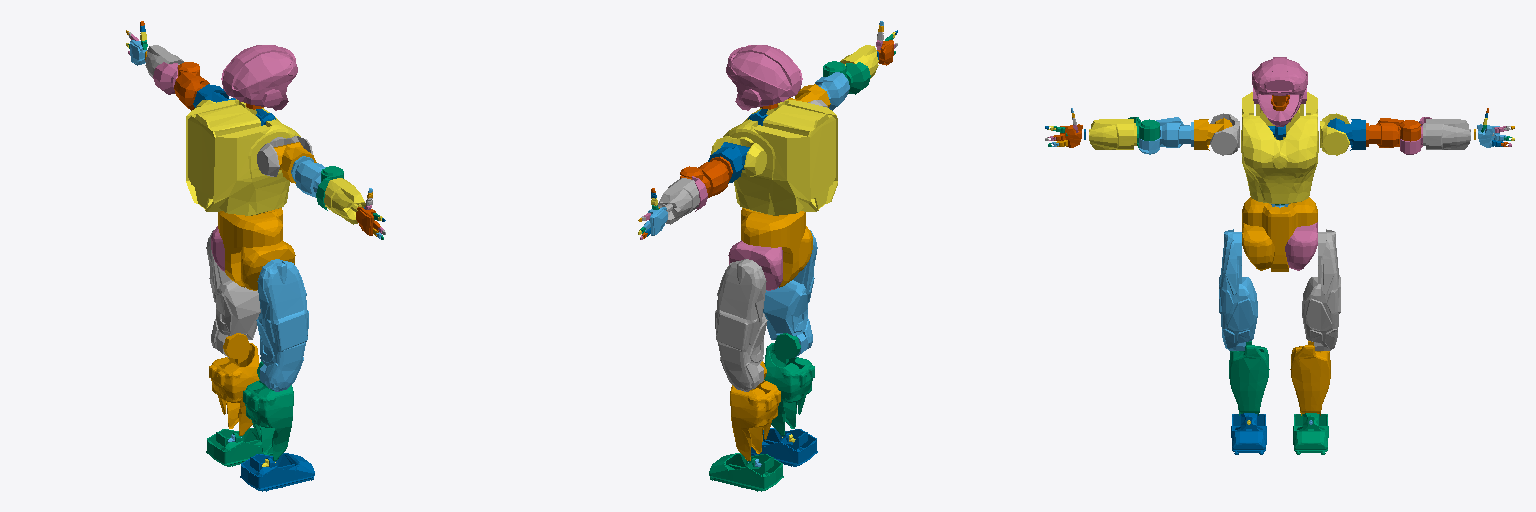
--- Render facts (derived) ---
3 views of the same robot in one strip: view 1: azimuth 30°, elevation 25°; view 2: azimuth 150°, elevation 25°; view 3: azimuth 270°, elevation 25° (orthographic).
Robot: valkyrie — 84 links, 83 joints (32 revolute, 51 fixed); root link pelvis; default pose: all joints at 0.
Links seen in each view (by area): view 1: torso, rightHipPitchLink, upperNeckPitchLink, leftKneePitchLink, leftHipPitchLink, rightKneePitchLink, pelvis, rightFoot, leftFoot, rightHipRollLink, rightForearmLink, leftShoulderYawLink (+5 smaller); view 2: torso, leftHipPitchLink, upperNeckPitchLink, rightKneePitchLink, rightHipPitchLink, leftKneePitchLink, pelvis, leftFoot, rightFoot, leftHipRollLink, leftForearmLink, leftShoulderYawLink (+5 smaller); view 3: torso, rightHipPitchLink, leftHipPitchLink, upperNeckPitchLink, pelvis, rightKneePitchLink, leftKneePitchLink, leftForearmLink, rightForearmLink, rightFoot, leftFoot, leftShoulderYawLink (+7 smaller).
Boxes of the visible links, left/top/right/bottom form: torso: left=186, top=99, right=300, bottom=215; rightHipPitchLink: left=256, top=259, right=308, bottom=391; upperNeckPitchLink: left=221, top=45, right=297, bottom=110; leftKneePitchLink: left=209, top=333, right=259, bottom=435; leftHipPitchLink: left=206, top=230, right=260, bottom=357; rightKneePitchLink: left=243, top=361, right=293, bottom=460; pelvis: left=218, top=208, right=282, bottom=287; rightFoot: left=240, top=453, right=314, bottom=491; leftFoot: left=206, top=428, right=272, bottom=466; rightHipRollLink: left=241, top=240, right=295, bottom=290; rightForearmLink: left=324, top=178, right=365, bottom=224; leftShoulderYawLink: left=174, top=62, right=209, bottom=110; torso: left=723, top=99, right=837, bottom=215; leftHipPitchLink: left=715, top=259, right=767, bottom=391; upperNeckPitchLink: left=726, top=45, right=802, bottom=110; rightKneePitchLink: left=764, top=333, right=814, bottom=435; rightHipPitchLink: left=763, top=230, right=817, bottom=357; leftKneePitchLink: left=730, top=361, right=780, bottom=460; pelvis: left=741, top=208, right=805, bottom=287; leftFoot: left=709, top=453, right=783, bottom=491; rightFoot: left=751, top=428, right=817, bottom=466; leftHipRollLink: left=728, top=240, right=782, bottom=290; leftForearmLink: left=658, top=178, right=699, bottom=224; leftShoulderYawLink: left=680, top=156, right=732, bottom=197; torso: left=1241, top=92, right=1318, bottom=203; rightHipPitchLink: left=1219, top=229, right=1257, bottom=350; leftHipPitchLink: left=1302, top=229, right=1340, bottom=350; upperNeckPitchLink: left=1252, top=57, right=1307, bottom=126; pelvis: left=1242, top=197, right=1317, bottom=271; rightKneePitchLink: left=1229, top=341, right=1269, bottom=415; leftKneePitchLink: left=1290, top=341, right=1330, bottom=415; leftForearmLink: left=1423, top=119, right=1470, bottom=149; rightForearmLink: left=1089, top=119, right=1136, bottom=149; rightFoot: left=1231, top=413, right=1266, bottom=454; leftFoot: left=1293, top=413, right=1328, bottom=454; leftShoulderYawLink: left=1366, top=118, right=1420, bottom=147.
Bounding box of the posed robot: 0.4375 × 2.09 × 1.88 m (x, y, z).
60 mesh visuals loaded from 58 distinct referenced files (58 Collada DAE).

robot.urdf — valkyrie:
<?xml version="1.0" ?>
<!-- =================================================================================== -->
<!-- |    This document was autogenerated by xacro from valkyrie_sim.xacro             | -->
<!-- |    EDITING THIS FILE BY HAND IS NOT RECOMMENDED                                 | -->
<!-- =================================================================================== -->
<robot name="valkyrie" xmlns:xacro="http://ros.org/wiki/xacro">
  <!--Yaw-->
  <!--pitch-->
  <!--roll-->
  <!--pitch-->
  <!--roll-->
  <!--Yaw-->
  <!--pitch-->
  <!--roll-->
  <!--pitch-->
  <!--roll-->
  <!--Yaw-->
  <!--pitch-->
  <!--roll-->
  <!--pitch-->
  <!--roll-->
  <!--Yaw-->
  <!--pitch-->
  <!--roll-->
  <!--pitch-->
  <!--roll-->
  <gazebo>
    <plugin filename="libval_gazebo.so" name="SharedMemorySimInterfacePlugin">
      <robotNamespace>/val</robotNamespace>
    </plugin>
  </gazebo>
  <link name="pelvis">
    <inertial>
      <mass value="8.22"/>
      <origin rpy="0 0 0" xyz="-0.00532 -0.003512 -0.0036"/>
      <inertia ixx="0.11866378" ixy="-0.000143482" ixz="0.003271293" iyy="0.097963425" iyz="0.002159545" izz="0.083854638"/>
    </inertial>
    <visual>
      <geometry>
        <mesh filename="package://model/meshes/pelvis/pelvis.dae"/>
      </geometry>
      <origin rpy="0.0 0.0 0.0" xyz="0.0 0.0 0.0"/>
    </visual>
    <collision>
      <geometry>
        <mesh filename="package://model/meshes/pelvis/pelvis.dae"/>
      </geometry>
      <origin rpy="0 0 0" xyz="0 0 0"/>
    </collision>
  </link>
  <link name="torsoYawLink">
    <inertial>
      <mass value="0.5"/>
      <origin rpy="0 0 0" xyz="0.000000 0.000000 -0.010000"/>
      <inertia ixx="0.000608427" ixy="-1.172e-06" ixz="1.647e-06" iyy="0.000620328" iyz="-2.33e-07" izz="0.001078108"/>
    </inertial>
    <visual>
      <geometry>
        <mesh filename="package://model/meshes/torso/torsoyaw.dae"/>
      </geometry>
      <origin rpy="0.0 0.0 0.0" xyz="0.0 0.0 0.0"/>
    </visual>
    <collision>
      <geometry>
        <mesh filename="package://model/meshes/torso/torsoyaw.dae"/>
      </geometry>
      <origin rpy="0 0 0" xyz="0 0 0"/>
    </collision>
  </link>
  <link name="torsoPitchLink">
    <inertial>
      <mass value="0.1"/>
      <origin rpy="0 0 0" xyz="0.000000 0.000000  0.005000"/>
      <inertia ixx="3.032e-05" ixy="0.0" ixz="-1.145e-06" iyy="2.1274e-05" iyz="0.0" izz="2.8285e-05"/>
    </inertial>
    <visual>
      <geometry>
        <mesh filename="package://model/meshes/torso/torsopitch.dae"/>
      </geometry>
      <origin rpy="0.0 0.0 0.0" xyz="0.0 0.0 0.0"/>
    </visual>
    <collision>
      <geometry>
        <mesh filename="package://model/meshes/torso/torsopitch.dae"/>
      </geometry>
      <origin rpy="0 0 0" xyz="0 0 0"/>
    </collision>
  </link>
  <link name="torso">
    <inertial>
      <mass value="39.47"/>
      <origin rpy="0 0 0" xyz="-0.095548 -0.003337 0.243098"/>
      <inertia ixx="0.87326933" ixy="9.9563e-05" ixz="0.061345211" iyy="1.0108485" iyz="0.00181849" izz="0.77839801"/>
    </inertial>
    <visual>
      <geometry>
        <mesh filename="package://model/meshes/torso/torso.dae"/>
      </geometry>
      <origin rpy="0.0 0.0 0.0" xyz="0.0 0.0 0.0"/>
    </visual>
    <collision>
      <geometry>
        <mesh filename="package://model/meshes/torso/torso.dae"/>
      </geometry>
      <origin rpy="0 0 0" xyz="0 0 0"/>
    </collision>
  </link>
  <joint name="torsoYaw" type="revolute">
    <origin rpy="0.0 0.0 0.0" xyz="0.0 0.0 0.0"/>
    <axis xyz="0 0 1"/>
    <parent link="pelvis"/>
    <child link="torsoYawLink"/>
    <limit effort="190" lower="-1.329" upper="1.181" velocity="5.89"/>
    <controller_gains Kd="0.0" Ki="0.0" Kp="0.0"/>
    <dynamics damping="0.1" friction="0.0"/>
  </joint>
  <gazebo reference="torsoYaw">
    <provideFeedback>1</provideFeedback>
    <implicitSpringDamper>1</implicitSpringDamper>
  </gazebo>
  <joint name="torsoPitch" type="revolute">
    <origin rpy="0.0 0.0 0.0" xyz="0.04191 0.0 0.0"/>
    <axis xyz="0 1 0"/>
    <parent link="torsoYawLink"/>
    <child link="torsoPitchLink"/>
    <limit effort="150" lower="-0.13" upper="0.666" velocity="9"/>
    <controller_gains Kd="0.0" Ki="0.0" Kp="0.0"/>
    <dynamics damping="0.1" friction="0.0"/>
  </joint>
  <gazebo reference="torsoPitch">
    <provideFeedback>1</provideFeedback>
    <implicitSpringDamper>1</implicitSpringDamper>
  </gazebo>
  <joint name="torsoRoll" type="revolute">
    <origin rpy="0.0 0.0 0.0" xyz="0.0 0.0 0.0203"/>
    <axis xyz="1 0 0"/>
    <parent link="torsoPitchLink"/>
    <child link="torso"/>
    <limit effort="150" lower="-0.23" upper="0.255" velocity="9"/>
    <controller_gains Kd="0.0" Ki="0.0" Kp="0.0"/>
    <dynamics damping="0.1" friction="0.0"/>
  </joint>
  <gazebo reference="torsoRoll">
    <provideFeedback>1</provideFeedback>
    <implicitSpringDamper>1</implicitSpringDamper>
  </gazebo>
  <link name="lowerNeckPitchLink">
    <inertial>
      <mass value="1.05"/>
      <origin rpy="0 0 0" xyz="-0.020000 0.000000  0.040000"/>
      <inertia ixx="0.001470716" ixy="-0.000126021" ixz="0.000632521" iyy="0.001851919" iyz="0.000243012" izz="0.000832117"/>
    </inertial>
    <visual>
      <geometry>
        <mesh filename="package://model/meshes/head/neckj1.dae"/>
      </geometry>
      <origin rpy="0.0 0.0 0.0" xyz="0.0 0.0 0.0"/>
    </visual>
    <collision>
      <geometry>
        <mesh filename="package://model/meshes/head/neckj1.dae"/>
      </geometry>
      <origin rpy="0 0 0" xyz="0 0 0"/>
    </collision>
  </link>
  <link name="neckYawLink">
    <inertial>
      <mass value="1.4"/>
      <origin rpy="0 0 0" xyz="-0.030000  -0.010000 0.150000"/>
      <inertia ixx="0.001997698" ixy="-0.000180062" ixz="0.000723677" iyy="0.002919928" iyz="0.000246467" izz="0.002119751"/>
    </inertial>
    <visual>
      <geometry>
        <mesh filename="package://model/meshes/head/neckj2.dae"/>
      </geometry>
      <origin rpy="0.0 0.0 0.0" xyz="0.0 0.0 0.0"/>
    </visual>
    <collision>
      <geometry>
        <mesh filename="package://model/meshes/head/neckj2.dae"/>
      </geometry>
      <origin rpy="0 0 0" xyz="0 0 0"/>
    </collision>
  </link>
  <link name="upperNeckPitchLink">
    <inertial>
      <mass value="3.89"/>
      <origin rpy="0 0 0" xyz="0.100912 0.005783 0.034787"/>
      <inertia ixx="0.039847525" ixy="-0.000470418" ixz="-0.002829842" iyy="0.041418564" iyz="-0.000782564" izz="0.036841236"/>
    </inertial>
    <visual>
      <geometry>
        <mesh filename="package://model/meshes/head/head_multisense_no_visor.dae"/>
      </geometry>
      <origin rpy="0.0 0.0 0.0" xyz="0.0 0.0 0.0"/>
    </visual>
    <collision>
      <geometry>
        <mesh filename="package://model/meshes/head/head_multisense_no_visor.dae"/>
      </geometry>
      <origin rpy="0 0 0" xyz="0 0 0"/>
    </collision>
  </link>
  <joint name="lowerNeckPitch" type="revolute">
    <origin rpy="0.0 0.0 0.0" xyz="0.0203518 0.0 0.33845"/>
    <axis xyz="0 1 0"/>
    <parent link="torso"/>
    <child link="lowerNeckPitchLink"/>
    <limit effort="26" lower="0" upper="1.162" velocity="5"/>
    <controller_gains Kd="400" Ki="0.0" Kp="400"/>
    <dynamics damping="0.1" friction="0.0"/>
  </joint>
  <gazebo reference="lowerNeckPitch">
    <provideFeedback>1</provideFeedback>
    <implicitSpringDamper>1</implicitSpringDamper>
  </gazebo>
  <joint name="neckYaw" type="revolute">
    <origin rpy="0.0 0.0 0.0" xyz="-0.051924 0.0 0.0"/>
    <axis xyz="0 0 1"/>
    <parent link="lowerNeckPitchLink"/>
    <child link="neckYawLink"/>
    <limit effort="26" lower="-1.04719755" upper="1.04719755" velocity="5"/>
    <controller_gains Kd="400" Ki="0.0" Kp="400"/>
    <dynamics damping="0.1" friction="0.0"/>
  </joint>
  <gazebo reference="neckYaw">
    <provideFeedback>1</provideFeedback>
    <implicitSpringDamper>1</implicitSpringDamper>
  </gazebo>
  <joint name="upperNeckPitch" type="revolute">
    <origin rpy="0.0 0.0 0.0" xyz="-0.06 0 0.195997"/>
    <axis xyz="0 1 0"/>
    <parent link="neckYawLink"/>
    <child link="upperNeckPitchLink"/>
    <limit effort="26" lower="-0.872" upper="0.0" velocity="5"/>
    <controller_gains Kd="400" Ki="0.0" Kp="400"/>
    <dynamics damping="0.1" friction="0.0"/>
  </joint>
  <gazebo reference="upperNeckPitch">
    <provideFeedback>1</provideFeedback>
    <implicitSpringDamper>1</implicitSpringDamper>
  </gazebo>
  <link name="rightShoulderPitchLink">
    <inertial>
      <mass value="2.65"/>
      <origin rpy="0 0 0" xyz="0.012 -0.251 0.000000"/>
      <inertia ixx="0.013718167" ixy="0.0" ixz="0.0" iyy="0.010502833" iyz="0.0" izz="0.014806433"/>
    </inertial>
    <visual>
      <geometry>
        <mesh filename="package://model/meshes/arms/aj1_right.dae"/>
      </geometry>
      <origin rpy="0.0 0.0 0.0" xyz="0.0 0.0 0.0"/>
    </visual>
    <collision>
      <geometry>
        <mesh filename="package://model/meshes/arms/aj1_right.dae"/>
      </geometry>
      <origin rpy="0 0 0" xyz="0 0 0"/>
    </collision>
  </link>
  <link name="rightShoulderRollLink">
    <inertial>
      <mass value="3.97"/>
      <origin rpy="0 0 0" xyz="0.008513 -0.02068 -0.001088"/>
      <inertia ixx="0.014598842" ixy="-0.00066764" ixz="3.629e-05" iyy="0.006452136" iyz="8.283e-05" izz="0.016848319"/>
    </inertial>
    <visual>
      <geometry>
        <mesh filename="package://model/meshes/arms/aj2_right.dae"/>
      </geometry>
      <origin rpy="0.0 0.0 0.0" xyz="0.0 0.0 0.0"/>
    </visual>
    <collision>
      <geometry>
        <mesh filename="package://model/meshes/arms/aj2_right.dae"/>
      </geometry>
      <origin rpy="0 0 0" xyz="0 0 0"/>
    </collision>
  </link>
  <link name="rightShoulderYawLink">
    <inertial>
      <mass value="3.085"/>
      <origin rpy="0 0 0" xyz="-0.004304 -0.209832 -0.007295"/>
      <inertia ixx="0.039355177" ixy="0.007827077" ixz="0.000753947" iyy="0.004905765" iyz="-0.002723873" izz="0.041879481"/>
    </inertial>
    <visual>
      <geometry>
        <mesh filename="package://model/meshes/arms/aj3_right.dae"/>
      </geometry>
      <origin rpy="0.0 0.0 0.0" xyz="0.0 0.0 0.0"/>
    </visual>
    <collision>
      <geometry>
        <mesh filename="package://model/meshes/arms/aj3_right.dae"/>
      </geometry>
      <origin rpy="0 0 0" xyz="0 0 0"/>
    </collision>
  </link>
  <link name="rightElbowPitchLink">
    <inertial>
      <mass value="1.83"/>
      <origin rpy="0 0 0" xyz="-0.020344 -0.014722 -0.0223"/>
      <inertia ixx="0.003314516" ixy="-0.000535099" ixz="-0.000728077" iyy="0.003505669" iyz="-0.000423865" izz="0.003011283"/>
    </inertial>
    <visual>
      <geometry>
        <mesh filename="package://model/meshes/arms/aj4_right.dae"/>
      </geometry>
      <origin rpy="0.0 0.0 0.0" xyz="0.0 0.0 0.0"/>
    </visual>
    <collision>
      <geometry>
        <mesh filename="package://model/meshes/arms/aj4_right.dae"/>
      </geometry>
      <origin rpy="0 0 0" xyz="0 0 0"/>
    </collision>
  </link>
  <joint name="rightShoulderPitch" type="revolute">
    <origin rpy="0.0 0.0 0.0" xyz="-0.0316 0.0 0.2984"/>
    <axis xyz="0 1 0"/>
    <parent link="torso"/>
    <child link="rightShoulderPitchLink"/>
    <limit effort="190" lower="-2.85" upper="2.0" velocity="5.89"/>
    <controller_gains Kd="0.0" Ki="0.0" Kp="0.0"/>
    <dynamics damping="0.1" friction="0.0"/>
  </joint>
  <gazebo reference="rightShoulderPitch">
    <provideFeedback>1</provideFeedback>
    <implicitSpringDamper>1</implicitSpringDamper>
  </gazebo>
  <joint name="rightShoulderRoll" type="revolute">
    <origin rpy="0.0 0.0 0.0" xyz="0.0 -0.2499 0.0"/>
    <axis xyz="1 0 0"/>
    <parent link="rightShoulderPitchLink"/>
    <child link="rightShoulderRollLink"/>
    <limit effort="190" lower="-1.266" upper="1.519" velocity="5.89"/>
    <controller_gains Kd="0.0" Ki="0.0" Kp="0.0"/>
    <dynamics damping="0.1" friction="0.0"/>
  </joint>
  <gazebo reference="rightShoulderRoll">
    <provideFeedback>1</provideFeedback>
    <implicitSpringDamper>1</implicitSpringDamper>
  </gazebo>
  <joint name="rightShoulderYaw" type="revolute">
    <origin rpy="0.0 0.0 0.0" xyz="0.0 0.0 0.0"/>
    <axis xyz="0 1 0"/>
    <parent link="rightShoulderRollLink"/>
    <child link="rightShoulderYawLink"/>
    <limit effort="65" lower="-3.1" upper="2.18" velocity="11.5"/>
    <controller_gains Kd="0.0" Ki="0.0" Kp="0.0"/>
    <dynamics damping="0.1" friction="0.0"/>
  </joint>
  <gazebo reference="rightShoulderYaw">
    <provideFeedback>1</provideFeedback>
    <implicitSpringDamper>1</implicitSpringDamper>
  </gazebo>
  <joint name="rightElbowPitch" type="revolute">
    <origin rpy="0.0 0.0 0.0" xyz="0.0254 -0.33 0.0"/>
    <axis xyz="0 0 1"/>
    <parent link="rightShoulderYawLink"/>
    <child link="rightElbowPitchLink"/>
    <limit effort="65" lower="-0.12" upper="2.174" velocity="11.5"/>
    <controller_gains Kd="0.0" Ki="0.0" Kp="0.0"/>
    <dynamics damping="0.1" friction="0.0"/>
  </joint>
  <gazebo reference="rightElbowPitch">
    <provideFeedback>1</provideFeedback>
    <implicitSpringDamper>1</implicitSpringDamper>
  </gazebo>
  <link name="rightForearmLink">
    <inertial>
      <mass value="2.476"/>
      <origin rpy="0 0 0" xyz="0.015000 -0.13 0.019564"/>
      <inertia ixx="0.01175543" ixy="-0.001300853" ixz="-0.000727141" iyy="0.005071567" iyz="-0.001695416" izz="0.011365657"/>
    </inertial>
    <visual>
      <geometry>
        <mesh filename="package://model/meshes/arms/aj5_right.dae"/>
      </geometry>
      <origin rpy="0.0 0.0 0.0" xyz="0.0 0.0 0.0"/>
    </visual>
    <collision>
      <geometry>
        <mesh filename="package://model/meshes/arms/aj5_right.dae"/>
      </geometry>
      <origin rpy="0 0 0" xyz="0 0 0"/>
    </collision>
  </link>
  <link name="rightWristRollLink">
    <inertial>
      <mass value="0.14"/>
      <origin rpy="0 0 0" xyz="0 -0.0 0"/>
      <inertia ixx="3.0251e-05" ixy="-1.25e-07" ixz="-3.6e-08" iyy="3.772e-05" iyz="0.0" izz="9.395e-06"/>
    </inertial>
    <visual>
      <geometry>
        <mesh filename="package://model/meshes/arms/aj6_right.dae"/>
      </geometry>
      <origin rpy="0.0 0.0 0.0" xyz="0.0 0.0 0.0"/>
    </visual>
    <collision>
      <geometry>
        <mesh filename="package://model/meshes/arms/aj6_right.dae"/>
      </geometry>
      <origin rpy="0 0 0" xyz="0 0 0"/>
    </collision>
  </link>
  <link name="rightPalm">
    <inertial>
      <mass value="0.712"/>
      <origin rpy="0 0 0" xyz="0.002954 -0.052034 -0.000236"/>
      <inertia ixx="0.000943493" ixy="3.4393e-05" ixz="-3.8828e-05" iyy="0.000711024" iyz="2.3429e-05" izz="0.000610199"/>
    </inertial>
    <visual>
      <geometry>
        <mesh filename="package://model/meshes/arms/palm_right.dae"/>
      </geometry>
      <origin rpy="0.0 0.0 0.0" xyz="0.0 0.0 0.0"/>
    </visual>
    <collision>
      <geometry>
        <mesh filename="package://model/meshes/arms/palm_right.dae"/>
      </geometry>
      <origin rpy="0 0 0" xyz="0 0 0"/>
    </collision>
  </link>
  <joint name="rightForearmYaw" type="revolute">
    <origin rpy="0.0 0.0 0.0" xyz="-0.0254 0 0"/>
    <axis xyz="0 1 0"/>
    <parent link="rightElbowPitchLink"/>
    <child link="rightForearmLink"/>
    <limit effort="26" lower="-2.019" upper="3.14" velocity="5"/>
    <controller_gains Kd="0" Ki="0.0" Kp="0.0"/>
    <dynamics damping="0.1" friction="0.0"/>
  </joint>
  <gazebo reference="rightForearmYaw">
    <provideFeedback>1</provideFeedback>
    <implicitSpringDamper>1</implicitSpringDamper>
  </gazebo>
  <joint name="rightWristRoll" type="revolute">
    <origin rpy="0.0 0.0 0.0" xyz="0.0 -0.2871 0.0"/>
    <axis xyz="1 0 0"/>
    <parent link="rightForearmLink"/>
    <child link="rightWristRollLink"/>
    <limit effort="14" lower="-0.625" upper="0.62" velocity="1"/>
    <controller_gains Kd="400" Ki="0.0" Kp="20000"/>
    <dynamics damping="0.1" friction="0.0"/>
  </joint>
  <gazebo reference="rightWristRoll">
    <provideFeedback>1</provideFeedback>
    <implicitSpringDamper>1</implicitSpringDamper>
  </gazebo>
  <joint name="rightWristPitch" type="revolute">
    <origin rpy="0.0 0.0 0.0" xyz="0.0 0.0 0.0"/>
    <axis xyz="0 0 1"/>
    <parent link="rightWristRollLink"/>
    <child link="rightPalm"/>
    <limit effort="14" lower="-0.49" upper="0.36" velocity="1"/>
    <controller_gains Kd="400" Ki="0.0" Kp="20000"/>
    <dynamics damping="0.1" friction="0.0"/>
  </joint>
  <gazebo reference="rightWristPitch">
    <provideFeedback>1</provideFeedback>
    <implicitSpringDamper>1</implicitSpringDamper>
  </gazebo>
  <link name="rightThumbRollLink">
    <inertial>
      <mass value="0.017"/>
      <origin rpy="0 0 0" xyz="0 -0.0 0.01"/>
      <inertia ixx="2.7778767e-06" ixy="5.6718533e-09" ixz="-9.5523207e-08" iyy="3.5462642e-06" iyz="3.663718e-08" izz="1.3553297e-06"/>
    </inertial>
    <visual>
      <geometry>
        <mesh filename="package://model/meshes/fingers/thumbj1_right.dae"/>
      </geometry>
      <origin rpy="0.0 0.0 0.0" xyz="0.0 0.0 0.0"/>
    </visual>
    <collision>
      <geometry>
        <mesh filename="package://model/meshes/fingers/thumbj1_right.dae"/>
      </geometry>
      <origin rpy="0 0 0" xyz="0 0 0"/>
    </collision>
  </link>
  <link name="rightThumbPitch1Link">
    <inertial>
      <mass value="0.02"/>
      <origin rpy="0 0 0" xyz="0.0 -0.005 0.02"/>
      <inertia ixx="4.239e-06" ixy="0.0" ixz="-0.0" iyy="4.582e-06" iyz="0.0" izz="1.47e-06"/>
    </inertial>
    <visual>
      <geometry>
        <mesh filename="package://model/meshes/fingers/thumbj2_right.dae"/>
      </geometry>
      <origin rpy="0.0 0.0 0.0" xyz="0.0 0.0 0.0"/>
    </visual>
    <collision>
      <geometry>
        <mesh filename="package://model/meshes/fingers/thumbj2_right.dae"/>
      </geometry>
      <origin rpy="0 0 0" xyz="0 0 0"/>
    </collision>
  </link>
  <link name="rightThumbPitch2Link">
    <inertial>
      <mass value="0.013"/>
      <origin rpy="0 0 0" xyz="0 -0.004 0.017"/>
      <inertia ixx="1.266e-06" ixy="0.0" ixz="-0.0" iyy="1.503e-06" iyz="-0.0" izz="6.99e-07"/>
    </inertial>
    <visual>
      <geometry>
        <mesh filename="package://model/meshes/fingers/thumbj3_right.dae"/>
      </geometry>
      <origin rpy="0.0 0.0 0.0" xyz="0.0 0.0 0.0"/>
    </visual>
    <collision>
      <geometry>
        <mesh filename="package://model/meshes/fingers/thumbj3_right.dae"/>
      </geometry>
      <origin rpy="0 0 0" xyz="0 0 0"/>
    </collision>
  </link>
  <link name="rightThumbPitch3Link">
    <inertial>
      <mass value="0.006"/>
      <origin rpy="0 0 0" xyz="0 -0.004 0.01"/>
      <inertia ixx="3.22e-07" ixy="0.0" ixz="0.0" iyy="4.06e-07" iyz="0.0" izz="2.1e-07"/>
    </inertial>
    <visual>
      <geometry>
        <mesh filename="package://model/meshes/fingers/thumbj4_right.dae"/>
      </geometry>
      <origin rpy="0.0 0.0 0.0" xyz="0.0 0.0 0.0"/>
    </visual>
    <collision>
      <geometry>
        <mesh filename="package://model/meshes/fingers/thumbj4_right.dae"/>
      </geometry>
      <origin rpy="0 0 0" xyz="0 0 0"/>
    </collision>
  </link>
  <joint name="rightThumbRoll" type="fixed">
    <origin rpy="0.3491 0.0 0.0" xyz="0.0049 -0.0351 0.0228"/>
    <axis xyz="0 0 1"/>
    <parent link="rightPalm"/>
    <child link="rightThumbRollLink"/>
  </joint>
  <gazebo reference="rightThumbRoll">
    <implicitSpringDamper>1</implicitSpringDamper>
  </gazebo>
  <joint name="rightThumbPitch1" type="fixed">
    <origin rpy="-0.3491 0.0 0.0" xyz="0.0 0.0 0.0229"/>
    <axis xyz="0 0 1"/>
    <parent link="rightThumbRollLink"/>
    <child link="rightThumbPitch1Link"/>
  </joint>
  <gazebo reference="rightThumbPitch1">
    <implicitSpringDamper>1</implicitSpringDamper>
  </gazebo>
  <joint name="rightThumbPitch2" type="fixed">
    <origin rpy="0.0 0.0 0.0" xyz="0.0 -0.0066 0.0375"/>
    <axis xyz="0 0 1"/>
    <parent link="rightThumbPitch1Link"/>
    <child link="rightThumbPitch2Link"/>
  </joint>
  <gazebo reference="rightThumbPitch2">
    <implicitSpringDamper>1</implicitSpringDamper>
  </gazebo>
  <joint name="rightThumbPitch3" type="fixed">
    <origin rpy="0.0 0.0 0.0" xyz="0.0 -0.0049 0.0275"/>
    <axis xyz="0 0 1"/>
    <parent link="rightThumbPitch2Link"/>
    <child link="rightThumbPitch3Link"/>
  </joint>
  <gazebo reference="rightThumbPitch3">
    <implicitSpringDamper>1</implicitSpringDamper>
  </gazebo>
  <link name="rightIndexFingerPitch1Link">
    <inertial>
      <mass value="0.02"/>
      <origin rpy="0 0 0" xyz="0 -0.02 0"/>
      <inertia ixx="4.232e-06" ixy="-6e-08" ixz="-8e-09" iyy="1.215e-06" iyz="-7e-09" izz="3.892e-06"/>
    </inertial>
    <visual>
      <geometry>
        <mesh filename="package://model/meshes/fingers/indexj1_right.dae"/>
      </geometry>
      <origin rpy="0.0 0.0 0.0" xyz="0.0 0.0 0.0"/>
    </visual>
    <collision>
      <geometry>
        <mesh filename="package://model/meshes/fingers/indexj1_right.dae"/>
      </geometry>
      <origin rpy="0 0 0" xyz="0 0 0"/>
    </collision>
  </link>
  <link name="rightIndexFingerPitch2Link">
    <inertial>
      <mass value="0.018"/>
      <origin rpy="0 0 0" xyz="0 -0.013 0"/>
      <inertia ixx="1.562e-06" ixy="-1.7e-08" ixz="-1.3e-08" iyy="7.22e-07" iyz="3.1e-08" izz="1.255e-06"/>
    </inertial>
    <visual>
      <geometry>
        <mesh filename="package://model/meshes/fingers/indexj2_right.dae"/>
      </geometry>
      <origin rpy="0.0 0.0 0.0" xyz="0.0 0.0 0.0"/>
    </visual>
    <collision>
      <geometry>
        <mesh filename="package://model/meshes/fingers/indexj2_right.dae"/>
      </geometry>
      <origin rpy="0 0 0" xyz="0 0 0"/>
    </collision>
  </link>
  <link name="rightIndexFingerPitch3Link">
    <inertial>
      <mass value="0.01"/>
      <origin rpy="0 0 0" xyz="0 -0.01 0"/>
      <inertia ixx="6.02e-07" ixy="-2.4e-08" ixz="0.0" iyy="2.09e-07" iyz="1.7e-08" izz="5.02e-07"/>
    </inertial>
    <visual>
      <geometry>
        <mesh filename="package://model/meshes/fingers/indexj3_right.dae"/>
      </geometry>
      <origin rpy="0.0 0.0 0.0" xyz="0.0 0.0 0.0"/>
    </visual>
    <collision>
      <geometry>
        <mesh filename="package://model/meshes/fingers/indexj3_right.dae"/>
      </geometry>
      <origin rpy="0 0 0" xyz="0 0 0"/>
    </collision>
  </link>
  <joint name="rightIndexFingerPitch1" type="fixed">
    <origin rpy="-0.1745 0.0 0.0" xyz="0.0022 -0.0976 0.0235"/>
    <axis xyz="0 0 1"/>
    <parent link="rightPalm"/>
    <child link="rightIndexFingerPitch1Link"/>
  </joint>
  <gazebo reference="rightIndexFingerPitch1">
    <implicitSpringDamper>1</implicitSpringDamper>
  </gazebo>
  <joint name="rightIndexFingerPitch2" type="fixed">
    <origin rpy="0.0 0.0 0.0" xyz="0.0 -0.0381 0.0"/>
    <axis xyz="0 0 1"/>
    <parent link="rightIndexFingerPitch1Link"/>
    <child link="rightIndexFingerPitch2Link"/>
  </joint>
  <gazebo reference="rightIndexFingerPitch2">
    <implicitSpringDamper>1</implicitSpringDamper>
  </gazebo>
  <joint name="rightIndexFingerPitch3" type="fixed">
    <origin rpy="0.0 0.0 0.0" xyz="0.0 -0.0229 0"/>
    <axis xyz="0 0 1"/>
    <parent link="rightIndexFingerPitch2Link"/>
    <child link="rightIndexFingerPitch3Link"/>
  </joint>
  <gazebo reference="rightIndexFingerPitch3">
    <implicitSpringDamper>1</implicitSpringDamper>
  </gazebo>
  <link name="rightMiddleFingerPitch1Link">
    <inertial>
      <mass value="0.02"/>
      <origin rpy="0 0 0" xyz="0 -0.02 0"/>
      <inertia ixx="5.148e-06" ixy="-4.2e-08" ixz="-1.1e-08" iyy="1.322e-06" iyz="-4e-09" izz="4.592e-06"/>
    </inertial>
    <visual>
      <geometry>
        <mesh filename="package://model/meshes/fingers/middlej1_right.dae"/>
      </geometry>
      <origin rpy="0.0 0.0 0.0" xyz="0.0 0.0 0.0"/>
    </visual>
    <collision>
      <geometry>
        <mesh filename="package://model/meshes/fingers/middlej1_right.dae"/>
      </geometry>
      <origin rpy="0 0 0" xyz="0 0 0"/>
    </collision>
  </link>
  <link name="rightMiddleFingerPitch2Link">
    <inertial>
      <mass value="0.011"/>
      <origin rpy="0 0 0" xyz="0 -0.013 0"/>
      <inertia ixx="1.97e-06" ixy="3.4e-08" ixz="-1.1e-08" iyy="5.54e-07" iyz="-7.8e-08" izz="2.272e-06"/>
    </inertial>
    <visual>
      <geometry>
        <mesh filename="package://model/meshes/fingers/middlej2_right.dae"/>
      </geometry>
      <origin rpy="0.0 0.0 0.0" xyz="0.0 0.0 0.0"/>
    </visual>
    <collision>
      <geometry>
        <mesh filename="package://model/meshes/fingers/middlej2_right.dae"/>
      </geometry>
      <origin rpy="0 0 0" xyz="0 0 0"/>
    </collision>
  </link>
  <link name="rightMiddleFingerPitch3Link">
    <inertial>
      <mass value="0.006"/>
      <origin rpy="0 0 0" xyz="0 -0.01 0"/>
      <inertia ixx="3.96e-07" ixy="-9e-09" ixz="-1e-09" iyy="1.6e-07" iyz="1.6e-08" izz="3.03e-07"/>
    </inertial>
    <visual>
      <geometry>
        <mesh filename="package://model/meshes/fingers/middlej3_right.dae"/>
      </geometry>
      <origin rpy="0.0 0.0 0.0" xyz="0.0 0.0 0.0"/>
    </visual>
    <collision>
      <geometry>
        <mesh filename="package://model/meshes/fingers/middlej3_right.dae"/>
      </geometry>
      <origin rpy="0 0 0" xyz="0 0 0"/>
    </collision>
  </link>
  <joint name="rightMiddleFingerPitch1" type="fixed">
    <origin rpy="0.1222 0.0 0.0" xyz="0.0022 -0.097 -0.0119"/>
    <axis xyz="0 0 1"/>
    <parent link="rightPalm"/>
    <child link="rightMiddleFingerPitch1Link"/>
  </joint>
  <gazebo reference="rightMiddleFingerPitch1">
    <implicitSpringDamper>1</implicitSpringDamper>
  </gazebo>
  <joint name="rightMiddleFingerPitch2" type="fixed">
    <origin rpy="0.0 0.0 0.0" xyz="0.0 -0.0381 0.0"/>
    <axis xyz="0 0 1"/>
    <parent link="rightMiddleFingerPitch1Link"/>
    <child link="rightMiddleFingerPitch2Link"/>
  </joint>
  <gazebo reference="rightMiddleFingerPitch2">
    <implicitSpringDamper>1</implicitSpringDamper>
  </gazebo>
  <joint name="rightMiddleFingerPitch3" type="fixed">
    <origin rpy="0.0 0.0 0.0" xyz="0.0 -0.0229 0.0"/>
    <axis xyz="0 0 1"/>
    <parent link="rightMiddleFingerPitch2Link"/>
    <child link="rightMiddleFingerPitch3Link"/>
  </joint>
  <gazebo reference="rightMiddleFingerPitch3">
    <implicitSpringDamper>1</implicitSpringDamper>
  </gazebo>
  <link name="rightPinkyPitch1Link">
    <inertial>
      <mass value="0.02"/>
      <origin rpy="0 0 0" xyz="0 -0.02 0"/>
      <inertia ixx="5.148e-06" ixy="-4.2e-08" ixz="-1.1e-08" iyy="1.322e-06" iyz="-4e-09" izz="4.592e-06"/>
    </inertial>
    <visual>
      <geometry>
        <mesh filename="package://model/meshes/fingers/pinkyj1_right.dae"/>
      </geometry>
      <origin rpy="0.0 0.0 0.0" xyz="0.0 0.0 0.0"/>
    </visual>
    <collision>
      <geometry>
        <mesh filename="package://model/meshes/fingers/pinkyj1_right.dae"/>
      </geometry>
      <origin rpy="0 0 0" xyz="0 0 0"/>
    </collision>
  </link>
  <link name="rightPinkyPitch2Link">
    <inertial>
      <mass value="0.011"/>
      <origin rpy="0 0 0" xyz="0 -0.013 0"/>
      <inertia ixx="1.97e-06" ixy="3.4e-08" ixz="-1.1e-08" iyy="5.54e-07" iyz="-7.8e-08" izz="2.272e-06"/>
    </inertial>
    <visual>
      <geometry>
        <mesh filename="package://model/meshes/fingers/pinkyj2_right.dae"/>
      </geometry>
      <origin rpy="0.0 0.0 0.0" xyz="0.0 0.0 0.0"/>
    </visual>
    <collision>
      <geometry>
        <mesh filename="package://model/meshes/fingers/pinkyj2_right.dae"/>
      </geometry>
      <origin rpy="0 0 0" xyz="0 0 0"/>
    </collision>
  </link>
  <link name="rightPinkyPitch3Link">
    <inertial>
      <mass value="0.006"/>
      <origin rpy="0 0 0" xyz="0 -0.01 0"/>
      <inertia ixx="3.96e-07" ixy="-9e-09" ixz="-1e-09" iyy="1.6e-07" iyz="1.6e-08" izz="3.03e-07"/>
    </inertial>
    <visual>
      <geometry>
        <mesh filename="package://model/meshes/fingers/pinkyj3_right.dae"/>
      </geometry>
      <origin rpy="0.0 0.0 0.0" xyz="0.0 0.0 0.0"/>
    </visual>
    <collision>
      <geometry>
        <mesh filename="package://model/meshes/fingers/pinkyj3_right.dae"/>
      </geometry>
      <origin rpy="0 0 0" xyz="0 0 0"/>
    </collision>
  </link>
  <joint name="rightPinkyPitch1" type="fixed">
    <origin rpy="0.1222 0.0 0.0" xyz="0.0022 -0.0838 -0.041"/>
    <axis xyz="0 0 1"/>
    <parent link="rightPalm"/>
    <child link="rightPinkyPitch1Link"/>
  </joint>
  <gazebo reference="rightPinkyPitch1">
    <implicitSpringDamper>1</implicitSpringDamper>
  </gazebo>
  <joint name="rightPinkyPitch2" type="fixed">
    <origin rpy="0.0 0.0 0.0" xyz="0.0 -0.0381 0.0"/>
    <axis xyz="0 0 1"/>
    <parent link="rightPinkyPitch1Link"/>
    <child link="rightPinkyPitch2Link"/>
  </joint>
  <gazebo reference="rightPinkyPitch2">
    <implicitSpringDamper>1</implicitSpringDamper>
  </gazebo>
  <joint name="rightPinkyPitch3" type="fixed">
    <origin rpy="0.0 0.0 0.0" xyz="0.0 -0.0229 0.0"/>
    <axis xyz="0 0 1"/>
    <parent link="rightPinkyPitch2Link"/>
    <child link="rightPinkyPitch3Link"/>
  </joint>
  <gazebo reference="rightPinkyPitch3">
    <implicitSpringDamper>1</implicitSpringDamper>
  </gazebo>
  <link name="leftShoulderPitchLink">
    <inertial>
      <mass value="2.65"/>
      <origin rpy="0 0 0" xyz="-0.012 0.251 0.000000"/>
      <inertia ixx="0.013718167" ixy="0.0" ixz="0.0" iyy="0.010502833" iyz="0.0" izz="0.014806433"/>
    </inertial>
    <visual>
      <geometry>
        <mesh filename="package://model/meshes/arms/aj1_left.dae"/>
      </geometry>
      <origin rpy="0.0 0.0 0.0" xyz="0.0 0.0 0.0"/>
    </visual>
    <collision>
      <geometry>
        <mesh filename="package://model/meshes/arms/aj1_left.dae"/>
      </geometry>
      <origin rpy="0 0 0" xyz="0 0 0"/>
    </collision>
  </link>
  <link name="leftShoulderRollLink">
    <inertial>
      <mass value="3.97"/>
      <origin rpy="0 0 0" xyz="-0.008513 0.02068 -0.001088"/>
      <inertia ixx="0.014598842" ixy="-0.00066764" ixz="-3.629e-05" iyy="0.006452136" iyz="-8.283e-05" izz="0.016848319"/>
    </inertial>
    <visual>
      <geometry>
        <mesh filename="package://model/meshes/arms/aj2_left.dae"/>
      </geometry>
      <origin rpy="0.0 0.0 0.0" xyz="0.0 0.0 0.0"/>
    </visual>
    <collision>
      <geometry>
        <mesh filename="package://model/meshes/arms/aj2_left.dae"/>
      </geometry>
      <origin rpy="0 0 0" xyz="0 0 0"/>
    </collision>
  </link>
  <link name="leftShoulderYawLink">
    <inertial>
      <mass value="3.085"/>
      <origin rpy="0 0 0" xyz="-0.004304 0.209832 0.007295"/>
      <inertia ixx="0.039355177" ixy="-0.007827077" ixz="-0.000753947" iyy="0.004905765" iyz="0.002723873" izz="0.041879481"/>
    </inertial>
    <visual>
      <geometry>
        <mesh filename="package://model/meshes/arms/aj3_left.dae"/>
      </geometry>
      <origin rpy="0.0 0.0 0.0" xyz="0.0 0.0 0.0"/>
    </visual>
    <collision>
      <geometry>
        <mesh filename="package://model/meshes/arms/aj3_left.dae"/>
      </geometry>
      <origin rpy="0 0 0" xyz="0 0 0"/>
    </collision>
  </link>
  <link name="leftElbowPitchLink">
    <inertial>
      <mass value="1.83"/>
      <origin rpy="0 0 0" xyz="-0.020344 0.014722 0.0223"/>
      <inertia ixx="0.003314516" ixy="0.000535099" ixz="0.000728077" iyy="0.003505669" iyz="-0.000423865" izz="0.003011283"/>
    </inertial>
    <visual>
      <geometry>
        <mesh filename="package://model/meshes/arms/aj4_left.dae"/>
      </geometry>
      <origin rpy="0.0 0.0 0.0" xyz="0.0 0.0 0.0"/>
    </visual>
    <collision>
      <geometry>
        <mesh filename="package://model/meshes/arms/aj4_left.dae"/>
      </geometry>
      <origin rpy="0 0 0" xyz="0 0 0"/>
    </collision>
  </link>
  <joint name="leftShoulderPitch" type="revolute">
    <origin rpy="0.0 0.0 0.0" xyz="-0.0316 0.0 0.2984"/>
    <axis xyz="0 1 0"/>
    <parent link="torso"/>
    <child link="leftShoulderPitchLink"/>
    <limit effort="190" lower="-2.85" upper="2.0" velocity="5.89"/>
    <controller_gains Kd="0.0" Ki="0.0" Kp="0.0"/>
    <dynamics damping="0.1" friction="0.0"/>
  </joint>
  <gazebo reference="leftShoulderPitch">
    <provideFeedback>1</provideFeedback>
    <implicitSpringDamper>1</implicitSpringDamper>
  </gazebo>
  <joint name="leftShoulderRoll" type="revolute">
    <origin rpy="0.0 0.0 0.0" xyz="0.0 0.2499 0.0"/>
    <axis xyz="1 0 0"/>
    <parent link="leftShoulderPitchLink"/>
    <child link="leftShoulderRollLink"/>
    <limit effort="190" lower="-1.519" upper="1.266" velocity="5.89"/>
    <controller_gains Kd="0.0" Ki="0.0" Kp="0.0"/>
    <dynamics damping="0.1" friction="0.0"/>
  </joint>
  <gazebo reference="leftShoulderRoll">
    <provideFeedback>1</provideFeedback>
    <implicitSpringDamper>1</implicitSpringDamper>
  </gazebo>
  <joint name="leftShoulderYaw" type="revolute">
    <origin rpy="0.0 0.0 0.0" xyz="0.0 0.0 0.0"/>
    <axis xyz="0 1 0"/>
    <parent link="leftShoulderRollLink"/>
    <child link="leftShoulderYawLink"/>
    <limit effort="65" lower="-3.1" upper="2.18" velocity="11.5"/>
    <controller_gains Kd="0.0" Ki="0.0" Kp="0.0"/>
    <dynamics damping="0.1" friction="0.0"/>
  </joint>
  <gazebo reference="leftShoulderYaw">
    <provideFeedback>1</provideFeedback>
    <implicitSpringDamper>1</implicitSpringDamper>
  </gazebo>
  <joint name="leftElbowPitch" type="revolute">
    <origin rpy="0.0 0.0 0.0" xyz="0.0254 0.33 0.0"/>
    <axis xyz="0 0 1"/>
    <parent link="leftShoulderYawLink"/>
    <child link="leftElbowPitchLink"/>
    <limit effort="65" lower="-2.174" upper="0.12" velocity="11.5"/>
    <controller_gains Kd="0.0" Ki="0.0" Kp="0.0"/>
    <dynamics damping="0.1" friction="0.0"/>
  </joint>
  <gazebo reference="leftElbowPitch">
    <provideFeedback>1</provideFeedback>
    <implicitSpringDamper>1</implicitSpringDamper>
  </gazebo>
  <link name="leftForearmLink">
    <inertial>
      <mass value="2.476"/>
      <origin rpy="0 0 0" xyz="0.015000 0.13 0.019564"/>
      <inertia ixx="0.01175543" ixy="0.001300853" ixz="-0.000727141" iyy="0.005071567" iyz="0.001695416" izz="0.011365657"/>
    </inertial>
    <visual>
      <geometry>
        <mesh filename="package://model/meshes/arms/aj5_left.dae"/>
      </geometry>
      <origin rpy="0.0 0.0 0.0" xyz="0.0 0.0 0.0"/>
    </visual>
    <collision>
      <geometry>
        <mesh filename="package://model/meshes/arms/aj5_left.dae"/>
      </geometry>
      <origin rpy="0 0 0" xyz="0 0 0"/>
    </collision>
  </link>
  <link name="leftWristRollLink">
    <inertial>
      <mass value="0.14"/>
      <origin rpy="0 0 0" xyz="0 0.0 0"/>
      <inertia ixx="3.0251e-05" ixy="1.25e-07" ixz="3.6e-08" iyy="3.772e-05" iyz="0.0" izz="9.395e-06"/>
    </inertial>
    <visual>
      <geometry>
        <mesh filename="package://model/meshes/arms/aj6_left.dae"/>
      </geometry>
      <origin rpy="0.0 0.0 0.0" xyz="0.0 0.0 0.0"/>
    </visual>
    <collision>
      <geometry>
        <mesh filename="package://model/meshes/arms/aj6_left.dae"/>
      </geometry>
      <origin rpy="0 0 0" xyz="0 0 0"/>
    </collision>
  </link>
  <link name="leftPalm">
    <inertial>
      <mass value="0.712"/>
      <origin rpy="0 0 0" xyz="0.002954 0.052034 -0.000236"/>
      <inertia ixx="0.000943493" ixy="3.4393e-05" ixz="3.8828e-05" iyy="0.000711024" iyz="-2.3429e-05" izz="0.000610199"/>
    </inertial>
    <visual>
      <geometry>
        <mesh filename="package://model/meshes/arms/palm_left.dae"/>
      </geometry>
      <origin rpy="0.0 0.0 0.0" xyz="0.0 0.0 0.0"/>
    </visual>
    <collision>
      <geometry>
        <mesh filename="package://model/meshes/arms/palm_left.dae"/>
      </geometry>
      <origin rpy="0 0 0" xyz="0 0 0"/>
    </collision>
  </link>
  <joint name="leftForearmYaw" type="revolute">
    <origin rpy="0.0 0.0 0.0" xyz="-0.0254 0 0"/>
    <axis xyz="0 1 0"/>
    <parent link="leftElbowPitchLink"/>
    <child link="leftForearmLink"/>
    <limit effort="26" lower="-2.019" upper="3.14" velocity="5"/>
    <controller_gains Kd="0" Ki="0.0" Kp="0.0"/>
    <dynamics damping="0.1" friction="0.0"/>
  </joint>
  <gazebo reference="leftForearmYaw">
    <provideFeedback>1</provideFeedback>
    <implicitSpringDamper>1</implicitSpringDamper>
  </gazebo>
  <joint name="leftWristRoll" type="revolute">
    <origin rpy="0.0 0.0 0.0" xyz="0.0 0.2871 0.0"/>
    <axis xyz="1 0 0"/>
    <parent link="leftForearmLink"/>
    <child link="leftWristRollLink"/>
    <limit effort="14" lower="-0.62" upper="0.625" velocity="1"/>
    <controller_gains Kd="400" Ki="0.0" Kp="20000"/>
    <dynamics damping="0.1" friction="0.0"/>
  </joint>
  <gazebo reference="leftWristRoll">
    <provideFeedback>1</provideFeedback>
    <implicitSpringDamper>1</implicitSpringDamper>
  </gazebo>
  <joint name="leftWristPitch" type="revolute">
    <origin rpy="0.0 0.0 0.0" xyz="0.0 0.0 0.0"/>
    <axis xyz="0 0 1"/>
    <parent link="leftWristRollLink"/>
    <child link="leftPalm"/>
    <limit effort="14" lower="-0.36" upper="0.49" velocity="1"/>
    <controller_gains Kd="400" Ki="0.0" Kp="20000"/>
    <dynamics damping="0.1" friction="0.0"/>
  </joint>
  <gazebo reference="leftWristPitch">
    <provideFeedback>1</provideFeedback>
    <implicitSpringDamper>1</implicitSpringDamper>
  </gazebo>
  <link name="leftThumbRollLink">
    <inertial>
      <mass value="0.017"/>
      <origin rpy="0 0 0" xyz="0 0.0 0.01"/>
      <inertia ixx="2.7778767e-06" ixy="5.6718533e-09" ixz="9.5523207e-08" iyy="3.5462642e-06" iyz="-3.663718e-08" izz="1.3553297e-06"/>
    </inertial>
    <visual>
      <geometry>
        <mesh filename="package://model/meshes/fingers/thumbj1_left.dae"/>
      </geometry>
      <origin rpy="0.0 0.0 0.0" xyz="0.0 0.0 0.0"/>
    </visual>
    <collision>
      <geometry>
        <mesh filename="package://model/meshes/fingers/thumbj1_left.dae"/>
      </geometry>
      <origin rpy="0 0 0" xyz="0 0 0"/>
    </collision>
  </link>
  <link name="leftThumbPitch1Link">
    <inertial>
      <mass value="0.02"/>
      <origin rpy="0 0 0" xyz="0.0 0.005 0.02"/>
      <inertia ixx="4.239e-06" ixy="0.0" ixz="0.0" iyy="4.582e-06" iyz="-0.0" izz="1.47e-06"/>
    </inertial>
    <visual>
      <geometry>
        <mesh filename="package://model/meshes/fingers/thumbj2_left.dae"/>
      </geometry>
      <origin rpy="0.0 0.0 0.0" xyz="0.0 0.0 0.0"/>
    </visual>
    <collision>
      <geometry>
        <mesh filename="package://model/meshes/fingers/thumbj2_left.dae"/>
      </geometry>
      <origin rpy="0 0 0" xyz="0 0 0"/>
    </collision>
  </link>
  <link name="leftThumbPitch2Link">
    <inertial>
      <mass value="0.013"/>
      <origin rpy="0 0 0" xyz="0 0.004 0.017"/>
      <inertia ixx="1.266e-06" ixy="0.0" ixz="0.0" iyy="1.503e-06" iyz="0.0" izz="6.99e-07"/>
    </inertial>
    <visual>
      <geometry>
        <mesh filename="package://model/meshes/fingers/thumbj3_left.dae"/>
      </geometry>
      <origin rpy="0.0 0.0 0.0" xyz="0.0 0.0 0.0"/>
    </visual>
    <collision>
      <geometry>
        <mesh filename="package://model/meshes/fingers/thumbj3_left.dae"/>
      </geometry>
      <origin rpy="0 0 0" xyz="0 0 0"/>
    </collision>
  </link>
  <link name="leftThumbPitch3Link">
    <inertial>
      <mass value="0.006"/>
      <origin rpy="0 0 0" xyz="0 0.004 0.01"/>
      <inertia ixx="3.22e-07" ixy="0.0" ixz="0.0" iyy="4.06e-07" iyz="0.0" izz="2.1e-07"/>
    </inertial>
    <visual>
      <geometry>
        <mesh filename="package://model/meshes/fingers/thumbj4_left.dae"/>
      </geometry>
      <origin rpy="0.0 0.0 0.0" xyz="0.0 0.0 0.0"/>
    </visual>
    <collision>
      <geometry>
        <mesh filename="package://model/meshes/fingers/thumbj4_left.dae"/>
      </geometry>
      <origin rpy="0 0 0" xyz="0 0 0"/>
    </collision>
  </link>
  <joint name="leftThumbRoll" type="fixed">
    <origin rpy="-0.3491 0.0 0.0" xyz="0.0049 0.0351 0.0228"/>
    <axis xyz="0 0 1"/>
    <parent link="leftPalm"/>
    <child link="leftThumbRollLink"/>
  </joint>
  <gazebo reference="leftThumbRoll">
    <implicitSpringDamper>1</implicitSpringDamper>
  </gazebo>
  <joint name="leftThumbPitch1" type="fixed">
    <origin rpy="0.3491 0.0 0.0" xyz="0.0 0.0 0.0229"/>
    <axis xyz="0 0 1"/>
    <parent link="leftThumbRollLink"/>
    <child link="leftThumbPitch1Link"/>
  </joint>
  <gazebo reference="leftThumbPitch1">
    <implicitSpringDamper>1</implicitSpringDamper>
  </gazebo>
  <joint name="leftThumbPitch2" type="fixed">
    <origin rpy="0.0 0.0 0.0" xyz="0.0 0.0066 0.0375"/>
    <axis xyz="0 0 1"/>
    <parent link="leftThumbPitch1Link"/>
    <child link="leftThumbPitch2Link"/>
  </joint>
  <gazebo reference="leftThumbPitch2">
    <implicitSpringDamper>1</implicitSpringDamper>
  </gazebo>
  <joint name="leftThumbPitch3" type="fixed">
    <origin rpy="0.0 0.0 0.0" xyz="0.0 0.0049 0.0275"/>
    <axis xyz="0 0 1"/>
    <parent link="leftThumbPitch2Link"/>
    <child link="leftThumbPitch3Link"/>
  </joint>
  <gazebo reference="leftThumbPitch3">
    <implicitSpringDamper>1</implicitSpringDamper>
  </gazebo>
  <link name="leftIndexFingerPitch1Link">
    <inertial>
      <mass value="0.02"/>
      <origin rpy="0 0 0" xyz="0 0.02 0"/>
      <inertia ixx="4.232e-06" ixy="6e-08" ixz="8e-09" iyy="1.215e-06" iyz="-7e-09" izz="3.892e-06"/>
    </inertial>
    <visual>
      <geometry>
        <mesh filename="package://model/meshes/fingers/indexj1_left.dae"/>
      </geometry>
      <origin rpy="0.0 0.0 0.0" xyz="0.0 0.0 0.0"/>
    </visual>
    <collision>
      <geometry>
        <mesh filename="package://model/meshes/fingers/indexj1_left.dae"/>
      </geometry>
      <origin rpy="0 0 0" xyz="0 0 0"/>
    </collision>
  </link>
  <link name="leftIndexFingerPitch2Link">
    <inertial>
      <mass value="0.018"/>
      <origin rpy="0 0 0" xyz="0 0.013 0"/>
      <inertia ixx="1.562e-06" ixy="1.7e-08" ixz="1.3e-08" iyy="7.22e-07" iyz="3.1e-08" izz="1.255e-06"/>
    </inertial>
    <visual>
      <geometry>
        <mesh filename="package://model/meshes/fingers/indexj2_left.dae"/>
      </geometry>
      <origin rpy="0.0 0.0 0.0" xyz="0.0 0.0 0.0"/>
    </visual>
    <collision>
      <geometry>
        <mesh filename="package://model/meshes/fingers/indexj2_left.dae"/>
      </geometry>
      <origin rpy="0 0 0" xyz="0 0 0"/>
    </collision>
  </link>
  <link name="leftIndexFingerPitch3Link">
    <inertial>
      <mass value="0.01"/>
      <origin rpy="0 0 0" xyz="0 0.01 0"/>
      <inertia ixx="6.02e-07" ixy="2.4e-08" ixz="-0.0" iyy="2.09e-07" iyz="1.7e-08" izz="5.02e-07"/>
    </inertial>
    <visual>
      <geometry>
        <mesh filename="package://model/meshes/fingers/indexj3_left.dae"/>
      </geometry>
      <origin rpy="0.0 0.0 0.0" xyz="0.0 0.0 0.0"/>
    </visual>
    <collision>
      <geometry>
        <mesh filename="package://model/meshes/fingers/indexj3_left.dae"/>
      </geometry>
      <origin rpy="0 0 0" xyz="0 0 0"/>
    </collision>
  </link>
  <joint name="leftIndexFingerPitch1" type="fixed">
    <origin rpy="0.1745 0.0 0.0" xyz="0.0022 0.0976 0.0235"/>
    <axis xyz="0 0 1"/>
    <parent link="leftPalm"/>
    <child link="leftIndexFingerPitch1Link"/>
  </joint>
  <gazebo reference="leftIndexFingerPitch1">
    <implicitSpringDamper>1</implicitSpringDamper>
  </gazebo>
  <joint name="leftIndexFingerPitch2" type="fixed">
    <origin rpy="0.0 0.0 0.0" xyz="0.0 0.0381 0.0"/>
    <axis xyz="0 0 1"/>
    <parent link="leftIndexFingerPitch1Link"/>
    <child link="leftIndexFingerPitch2Link"/>
  </joint>
  <gazebo reference="leftIndexFingerPitch2">
    <implicitSpringDamper>1</implicitSpringDamper>
  </gazebo>
  <joint name="leftIndexFingerPitch3" type="fixed">
    <origin rpy="0.0 0.0 0.0" xyz="0.0 0.0229 0"/>
    <axis xyz="0 0 1"/>
    <parent link="leftIndexFingerPitch2Link"/>
    <child link="leftIndexFingerPitch3Link"/>
  </joint>
  <gazebo reference="leftIndexFingerPitch3">
    <implicitSpringDamper>1</implicitSpringDamper>
  </gazebo>
  <link name="leftMiddleFingerPitch1Link">
    <inertial>
      <mass value="0.02"/>
      <origin rpy="0 0 0" xyz="0 0.02 0"/>
      <inertia ixx="5.148e-06" ixy="4.2e-08" ixz="1.1e-08" iyy="1.322e-06" iyz="-4e-09" izz="4.592e-06"/>
    </inertial>
    <visual>
      <geometry>
        <mesh filename="package://model/meshes/fingers/middlej1_left.dae"/>
      </geometry>
      <origin rpy="0.0 0.0 0.0" xyz="0.0 0.0 0.0"/>
    </visual>
    <collision>
      <geometry>
        <mesh filename="package://model/meshes/fingers/middlej1_left.dae"/>
      </geometry>
      <origin rpy="0 0 0" xyz="0 0 0"/>
    </collision>
  </link>
  <link name="leftMiddleFingerPitch2Link">
    <inertial>
      <mass value="0.011"/>
      <origin rpy="0 0 0" xyz="0 0.013 0"/>
      <inertia ixx="1.97e-06" ixy="-3.4e-08" ixz="1.1e-08" iyy="5.54e-07" iyz="-7.8e-08" izz="2.272e-06"/>
    </inertial>
    <visual>
      <geometry>
        <mesh filename="package://model/meshes/fingers/middlej2_left.dae"/>
      </geometry>
      <origin rpy="0.0 0.0 0.0" xyz="0.0 0.0 0.0"/>
    </visual>
    <collision>
      <geometry>
        <mesh filename="package://model/meshes/fingers/middlej2_left.dae"/>
      </geometry>
      <origin rpy="0 0 0" xyz="0 0 0"/>
    </collision>
  </link>
  <link name="leftMiddleFingerPitch3Link">
    <inertial>
      <mass value="0.006"/>
      <origin rpy="0 0 0" xyz="0 0.01 0"/>
      <inertia ixx="3.96e-07" ixy="9e-09" ixz="1e-09" iyy="1.6e-07" iyz="1.6e-08" izz="3.03e-07"/>
    </inertial>
    <visual>
      <geometry>
        <mesh filename="package://model/meshes/fingers/middlej3_left.dae"/>
      </geometry>
      <origin rpy="0.0 0.0 0.0" xyz="0.0 0.0 0.0"/>
    </visual>
    <collision>
      <geometry>
        <mesh filename="package://model/meshes/fingers/middlej3_left.dae"/>
      </geometry>
      <origin rpy="0 0 0" xyz="0 0 0"/>
    </collision>
  </link>
  <joint name="leftMiddleFingerPitch1" type="fixed">
    <origin rpy="-0.1222 0.0 0.0" xyz="0.0022 0.097 -0.0119"/>
    <axis xyz="0 0 1"/>
    <parent link="leftPalm"/>
    <child link="leftMiddleFingerPitch1Link"/>
  </joint>
  <gazebo reference="leftMiddleFingerPitch1">
    <implicitSpringDamper>1</implicitSpringDamper>
  </gazebo>
  <joint name="leftMiddleFingerPitch2" type="fixed">
    <origin rpy="0.0 0.0 0.0" xyz="0.0 0.0381 0.0"/>
    <axis xyz="0 0 1"/>
    <parent link="leftMiddleFingerPitch1Link"/>
    <child link="leftMiddleFingerPitch2Link"/>
  </joint>
  <gazebo reference="leftMiddleFingerPitch2">
    <implicitSpringDamper>1</implicitSpringDamper>
  </gazebo>
  <joint name="leftMiddleFingerPitch3" type="fixed">
    <origin rpy="0.0 0.0 0.0" xyz="0.0 0.0229 0.0"/>
    <axis xyz="0 0 1"/>
    <parent link="leftMiddleFingerPitch2Link"/>
    <child link="leftMiddleFingerPitch3Link"/>
  </joint>
  <gazebo reference="leftMiddleFingerPitch3">
    <implicitSpringDamper>1</implicitSpringDamper>
  </gazebo>
  <link name="leftPinkyPitch1Link">
    <inertial>
      <mass value="0.02"/>
      <origin rpy="0 0 0" xyz="0 0.02 0"/>
      <inertia ixx="5.148e-06" ixy="4.2e-08" ixz="1.1e-08" iyy="1.322e-06" iyz="-4e-09" izz="4.592e-06"/>
    </inertial>
    <visual>
      <geometry>
        <mesh filename="package://model/meshes/fingers/pinkyj1_left.dae"/>
      </geometry>
      <origin rpy="0.0 0.0 0.0" xyz="0.0 0.0 0.0"/>
    </visual>
    <collision>
      <geometry>
        <mesh filename="package://model/meshes/fingers/pinkyj1_left.dae"/>
      </geometry>
      <origin rpy="0 0 0" xyz="0 0 0"/>
    </collision>
  </link>
  <link name="leftPinkyPitch2Link">
    <inertial>
      <mass value="0.011"/>
      <origin rpy="0 0 0" xyz="0 0.013 0"/>
      <inertia ixx="1.97e-06" ixy="-3.4e-08" ixz="1.1e-08" iyy="5.54e-07" iyz="-7.8e-08" izz="2.272e-06"/>
    </inertial>
    <visual>
      <geometry>
        <mesh filename="package://model/meshes/fingers/pinkyj2_left.dae"/>
      </geometry>
      <origin rpy="0.0 0.0 0.0" xyz="0.0 0.0 0.0"/>
    </visual>
    <collision>
      <geometry>
        <mesh filename="package://model/meshes/fingers/pinkyj2_left.dae"/>
      </geometry>
      <origin rpy="0 0 0" xyz="0 0 0"/>
    </collision>
  </link>
  <link name="leftPinkyPitch3Link">
    <inertial>
      <mass value="0.006"/>
      <origin rpy="0 0 0" xyz="0 0.01 0"/>
      <inertia ixx="3.96e-07" ixy="9e-09" ixz="1e-09" iyy="1.6e-07" iyz="1.6e-08" izz="3.03e-07"/>
    </inertial>
    <visual>
      <geometry>
        <mesh filename="package://model/meshes/fingers/pinkyj3_left.dae"/>
      </geometry>
      <origin rpy="0.0 0.0 0.0" xyz="0.0 0.0 0.0"/>
    </visual>
    <collision>
      <geometry>
        <mesh filename="package://model/meshes/fingers/pinkyj3_left.dae"/>
      </geometry>
      <origin rpy="0 0 0" xyz="0 0 0"/>
    </collision>
  </link>
  <joint name="leftPinkyPitch1" type="fixed">
    <origin rpy="-0.1222 0.0 0.0" xyz="0.0022 0.0838 -0.041"/>
    <axis xyz="0 0 1"/>
    <parent link="leftPalm"/>
    <child link="leftPinkyPitch1Link"/>
  </joint>
  <gazebo reference="leftPinkyPitch1">
    <implicitSpringDamper>1</implicitSpringDamper>
  </gazebo>
  <joint name="leftPinkyPitch2" type="fixed">
    <origin rpy="0.0 0.0 0.0" xyz="0.0 0.0381 0.0"/>
    <axis xyz="0 0 1"/>
    <parent link="leftPinkyPitch1Link"/>
    <child link="leftPinkyPitch2Link"/>
  </joint>
  <gazebo reference="leftPinkyPitch2">
    <implicitSpringDamper>1</implicitSpringDamper>
  </gazebo>
  <joint name="leftPinkyPitch3" type="fixed">
    <origin rpy="0.0 0.0 0.0" xyz="0.0 0.0229 0.0"/>
    <axis xyz="0 0 1"/>
    <parent link="leftPinkyPitch2Link"/>
    <child link="leftPinkyPitch3Link"/>
  </joint>
  <gazebo reference="leftPinkyPitch3">
    <implicitSpringDamper>1</implicitSpringDamper>
  </gazebo>
  <link name="rightHipYawLink">
    <inertial>
      <mass value="2.39"/>
      <origin rpy="0 0 0" xyz="0.02176 0.00131 0.03867"/>
      <inertia ixx="0.017260978" ixy="0.0" ixz="0.0" iyy="0.014866198" iyz="0.0" izz="0.011238178"/>
    </inertial>
    <visual>
      <geometry>
        <mesh filename="package://model/meshes/legs/lj1_right.dae"/>
      </geometry>
      <origin rpy="0.0 0.0 0.0" xyz="0.0 0.0 0.0"/>
    </visual>
    <collision>
      <geometry>
        <mesh filename="package://model/meshes/legs/lj1_right.dae"/>
      </geometry>
      <origin rpy="0 0 0" xyz="0 0 0"/>
    </collision>
  </link>
  <link name="rightHipRollLink">
    <inertial>
      <mass value="3.665"/>
      <origin rpy="0 0 0" xyz="0.012959 -0.00755 -0.015950"/>
      <inertia ixx="0.005978962" ixy="0.000234823" ixz="0.000553962" iyy="0.009372646" iyz="-0.000778956" izz="0.008193117"/>
    </inertial>
    <visual>
      <geometry>
        <mesh filename="package://model/meshes/legs/lj2_right.dae"/>
      </geometry>
      <origin rpy="0.0 0.0 0.0" xyz="0.0 0.0 0.0"/>
    </visual>
    <collision>
      <geometry>
        <mesh filename="package://model/meshes/legs/lj2_right.dae"/>
      </geometry>
      <origin rpy="0 0 0" xyz="0 0 0"/>
    </collision>
  </link>
  <link name="rightHipPitchLink">
    <inertial>
      <mass value="10.2"/>
      <origin rpy="0 0 0" xyz="0.016691 -0.091397 -0.207875"/>
      <inertia ixx="0.24083413" ixy="-3.5915e-05" ixz="0.003699383" iyy="0.25689705" iyz="0.001333005" izz="0.023276352"/>
    </inertial>
    <visual>
      <geometry>
        <mesh filename="package://model/meshes/legs/lj3_right.dae"/>
      </geometry>
      <origin rpy="0.0 0.0 0.0" xyz="0.0 0.0 0.0"/>
    </visual>
    <collision>
      <geometry>
        <mesh filename="package://model/meshes/legs/lj3_right.dae"/>
      </geometry>
      <origin rpy="0 0 0" xyz="0 0 0"/>
    </collision>
  </link>
  <link name="rightKneePitchLink">
    <inertial>
      <mass value="6.2"/>
      <origin rpy="0 0 0" xyz="-0.022183  0.001703  -0.189418"/>
      <inertia ixx="0.086935683" ixy="9.929e-05" ixz="0.000573207" iyy="0.091584066" iyz="0.000313745" izz="0.014017272"/>
    </inertial>
    <visual>
      <geometry>
        <mesh filename="package://model/meshes/legs/lj4_right.dae"/>
      </geometry>
      <origin rpy="0.0 0.0 0.0" xyz="0.0 0.0 0.0"/>
    </visual>
    <collision>
      <geometry>
        <mesh filename="package://model/meshes/legs/lj4_right.dae"/>
      </geometry>
      <origin rpy="0 0 0" xyz="0 0 0"/>
    </collision>
  </link>
  <link name="rightAnklePitchLink">
    <inertial>
      <mass value="0.03"/>
      <origin rpy="0 0 0" xyz="0.0 0.0 0.0"/>
      <inertia ixx="4.377e-06" ixy="0.0" ixz="0.0" iyy="4.322e-06" iyz="0.0" izz="7.015e-06"/>
    </inertial>
    <visual>
      <geometry>
        <mesh filename="package://model/meshes/legs/lj5.dae"/>
      </geometry>
      <origin rpy="0.0 0.0 0.0" xyz="0.0 0.0 0.0"/>
    </visual>
    <collision>
      <geometry>
        <mesh filename="package://model/meshes/legs/lj5.dae"/>
      </geometry>
      <origin rpy="0 0 0" xyz="0 0 0"/>
    </collision>
  </link>
  <link name="rightFoot">
    <inertial>
      <mass value="2.27"/>
      <origin rpy="0 0 0" xyz="0.037702  0.005161  -0.047634"/>
      <inertia ixx="0.00623936" ixy="0.000217174" ixz="0.001340587" iyy="0.017786991" iyz="-0.000187749" izz="0.020774433"/>
    </inertial>
    <visual>
      <geometry>
        <mesh filename="package://model/meshes/legs/foot.dae"/>
      </geometry>
      <origin rpy="0 0 0" xyz="0 0 0"/>
    </visual>
    <collision>
      <geometry>
        <box size="0.27 0.16 0.064"/>
      </geometry>
      <origin rpy="0.0 0.0 0.0" xyz="0.066 0.0 -0.056"/>
    </collision>
    <collision group="midfoot_rear">
      <origin rpy="0 0 0" xyz="0.032 0.055 -0.09"/>
      <geometry>
        <sphere radius="0.0"/>
      </geometry>
    </collision>
    <visual group="midfoot_rear">
      <origin rpy="0 0 0" xyz="0.032 0.055 -0.09"/>
      <geometry>
        <sphere radius="0.01"/>
      </geometry>
    </visual>
    <collision group="midfoot_rear">
      <origin rpy="0 0 0" xyz="0.032 -0.055 -0.09"/>
      <geometry>
        <sphere radius="0.0"/>
      </geometry>
    </collision>
    <visual group="midfoot_rear">
      <origin rpy="0 0 0" xyz="0.032 -0.055 -0.09"/>
      <geometry>
        <sphere radius="0.01"/>
      </geometry>
    </visual>
    <collision group="midfoot_front">
      <origin rpy="0 0 0" xyz="0.102 0.055 -0.09"/>
      <geometry>
        <sphere radius="0.0"/>
      </geometry>
    </collision>
    <visual group="midfoot_front">
      <origin rpy="0 0 0" xyz="0.102 0.055 -0.09"/>
      <geometry>
        <sphere radius="0.01"/>
      </geometry>
    </visual>
    <collision group="midfoot_front">
      <origin rpy="0 0 0" xyz="0.102 -0.055 -0.09"/>
      <geometry>
        <sphere radius="0.0"/>
      </geometry>
    </collision>
    <visual group="midfoot_front">
      <origin rpy="0 0 0" xyz="0.102 -0.055 -0.09"/>
      <geometry>
        <sphere radius="0.01"/>
      </geometry>
    </visual>    
    <collision group="heel">
      <origin rpy="0 0 0" xyz="-0.038 0.055 -0.09"/>
      <geometry>
        <sphere radius="0.0"/>
      </geometry>
    </collision>
    <visual group="heel">
      <origin rpy="0 0 0" xyz="-0.038 0.055 -0.09"/>
      <geometry>
        <sphere radius="0.01"/>
      </geometry>
    </visual>
    <collision group="heel">
      <origin rpy="0 0 0" xyz="-0.038 -0.055 -0.09"/>
      <geometry>
        <sphere radius="0.0"/>
      </geometry>
    </collision>
    <visual group="heel">
      <origin rpy="0 0 0" xyz="-0.038 -0.055 -0.09"/>
      <geometry>
        <sphere radius="0.01"/>
      </geometry>
    </visual>
    <collision group="toe">
      <origin rpy="0 0 0" xyz="0.172 0.055 -0.09"/>
      <geometry>
        <sphere radius="0.0"/>
      </geometry>
    </collision>
    <visual group="toe">
      <origin rpy="0 0 0" xyz="0.172 0.055 -0.09"/>
      <geometry>
        <sphere radius="0.01"/>
      </geometry>
    </visual>
    <collision group="toe">
      <origin rpy="0 0 0" xyz="0.172 -0.055 -0.09"/>
      <geometry>
        <sphere radius="0.0"/>
      </geometry>
    </collision>
    <visual group="toe">
      <origin rpy="0 0 0" xyz="0.172 -0.055 -0.09"/>
      <geometry>
        <sphere radius="0.01"/>
      </geometry>
    </visual>
  </link>
  <joint name="rightHipYaw" type="revolute">
    <origin rpy="0.0 0.0 0.0" xyz="0.0 -0.1016 -0.1853"/>
    <axis xyz="0 0 1"/>
    <parent link="pelvis"/>
    <child link="rightHipYawLink"/>
    <limit effort="190" lower="-1.1" upper="0.4141" velocity="5.89"/>
    <controller_gains Kd="0.0" Ki="0.0" Kp="0.0"/>
    <dynamics damping="0.1" friction="0.0"/>
  </joint>
  <gazebo reference="rightHipYaw">
    <provideFeedback>1</provideFeedback>
    <implicitSpringDamper>1</implicitSpringDamper>
  </gazebo>
  <joint name="rightHipRoll" type="revolute">
    <origin rpy="0.0 0.0 0.0" xyz="0.0 0.0 0.0"/>
    <axis xyz="1 0 0"/>
    <parent link="rightHipYawLink"/>
    <child link="rightHipRollLink"/>
    <limit effort="350" lower="-0.5515" upper="0.467" velocity="7"/>
    <controller_gains Kd="0.0" Ki="0.0" Kp="0.0"/>
    <dynamics damping="0.1" friction="0.0"/>
  </joint>
  <gazebo reference="rightHipRoll">
    <provideFeedback>1</provideFeedback>
    <implicitSpringDamper>1</implicitSpringDamper>
  </gazebo>
  <joint name="rightHipPitch" type="revolute">
    <origin rpy="0.0 0.0 0.0" xyz="0.0 0.0 -0.0609"/>
    <axis xyz="0 1 0"/>
    <parent link="rightHipRollLink"/>
    <child link="rightHipPitchLink"/>
    <limit effort="350" lower="-2.42" upper="1.619" velocity="6.11"/>
    <controller_gains Kd="0.0" Ki="0.0" Kp="0.0"/>
    <dynamics damping="0.1" friction="0.0"/>
  </joint>
  <gazebo reference="rightHipPitch">
    <provideFeedback>1</provideFeedback>
    <implicitSpringDamper>1</implicitSpringDamper>
  </gazebo>
  <joint name="rightKneePitch" type="revolute">
    <origin rpy="0.0 0.0 0.0" xyz="0.000112225 -0.0361046 -0.430959"/>
    <axis xyz="0 1 0"/>
    <parent link="rightHipPitchLink"/>
    <child link="rightKneePitchLink"/>
    <limit effort="350" lower="-0.083" upper="2.057" velocity="6.11"/>
    <controller_gains Kd="0.0" Ki="0.0" Kp="0.0"/>
    <dynamics damping="0.1" friction="0.0"/>
  </joint>
  <gazebo reference="rightKneePitch">
    <provideFeedback>1</provideFeedback>
    <implicitSpringDamper>1</implicitSpringDamper>
  </gazebo>
  <joint name="rightAnklePitch" type="revolute">
    <origin rpy="0.0 0.0 0.0" xyz="-0.0102381 0.0 -0.40627"/>
    <axis xyz="0 1 0"/>
    <parent link="rightKneePitchLink"/>
    <child link="rightAnklePitchLink"/>
    <limit effort="205" lower="-0.8644" upper="0.875" velocity="11"/>
    <controller_gains Kd="0.0" Ki="0.0" Kp="0.0"/>
    <dynamics damping="0.1" friction="0.0"/>
  </joint>
  <gazebo reference="rightAnklePitch">
    <provideFeedback>1</provideFeedback>
    <implicitSpringDamper>1</implicitSpringDamper>
  </gazebo>
  <joint name="rightAnkleRoll" type="revolute">
    <origin rpy="0.0 0.0 0.0" xyz="0.0 0.0 0.0"/>
    <axis xyz="1 0 0"/>
    <parent link="rightAnklePitchLink"/>
    <child link="rightFoot"/>
    <limit effort="205" lower="-0.349" upper="0.348" velocity="11"/>
    <controller_gains Kd="0.0" Ki="0.0" Kp="0.0"/>
    <dynamics damping="0.3" friction="0.0"/>
  </joint>
  <gazebo reference="rightAnkleRoll">
    <provideFeedback>1</provideFeedback>
    <implicitSpringDamper>1</implicitSpringDamper>
  </gazebo>
  <link name="leftHipYawLink">
    <inertial>
      <mass value="2.39"/>
      <origin rpy="0 0 0" xyz="0.02176 -0.00131 0.03867"/>
      <inertia ixx="0.017260978" ixy="0.0" ixz="0.0" iyy="0.014866198" iyz="0.0" izz="0.011238178"/>
    </inertial>
    <visual>
      <geometry>
        <mesh filename="package://model/meshes/legs/lj1_left.dae"/>
      </geometry>
      <origin rpy="0.0 0.0 0.0" xyz="0.0 0.0 0.0"/>
    </visual>
    <collision>
      <geometry>
        <mesh filename="package://model/meshes/legs/lj1_left.dae"/>
      </geometry>
      <origin rpy="0 0 0" xyz="0 0 0"/>
    </collision>
  </link>
  <link name="leftHipRollLink">
    <inertial>
      <mass value="3.665"/>
      <origin rpy="0 0 0" xyz="0.012959 0.00755 -0.015950"/>
      <inertia ixx="0.005978962" ixy="-0.000234823" ixz="0.000553962" iyy="0.009372646" iyz="0.000778956" izz="0.008193117"/>
    </inertial>
    <visual>
      <geometry>
        <mesh filename="package://model/meshes/legs/lj2_left.dae"/>
      </geometry>
      <origin rpy="0.0 0.0 0.0" xyz="0.0 0.0 0.0"/>
    </visual>
    <collision>
      <geometry>
        <mesh filename="package://model/meshes/legs/lj2_left.dae"/>
      </geometry>
      <origin rpy="0 0 0" xyz="0 0 0"/>
    </collision>
  </link>
  <link name="leftHipPitchLink">
    <inertial>
      <mass value="10.2"/>
      <origin rpy="0 0 0" xyz="0.016691 0.091397 -0.207875"/>
      <inertia ixx="0.24083413" ixy="3.5915e-05" ixz="0.003699383" iyy="0.25689705" iyz="-0.001333005" izz="0.023276352"/>
    </inertial>
    <visual>
      <geometry>
        <mesh filename="package://model/meshes/legs/lj3_left.dae"/>
      </geometry>
      <origin rpy="0.0 0.0 0.0" xyz="0.0 0.0 0.0"/>
    </visual>
    <collision>
      <geometry>
        <mesh filename="package://model/meshes/legs/lj3_left.dae"/>
      </geometry>
      <origin rpy="0 0 0" xyz="0 0 0"/>
    </collision>
  </link>
  <link name="leftKneePitchLink">
    <inertial>
      <mass value="6.2"/>
      <origin rpy="0 0 0" xyz="-0.022183  0.001703  -0.189418"/>
      <inertia ixx="0.086935683" ixy="9.929e-05" ixz="0.000573207" iyy="0.091584066" iyz="0.000313745" izz="0.014017272"/>
    </inertial>
    <visual>
      <geometry>
        <mesh filename="package://model/meshes/legs/lj4_left.dae"/>
      </geometry>
      <origin rpy="0.0 0.0 0.0" xyz="0.0 0.0 0.0"/>
    </visual>
    <collision>
      <geometry>
        <mesh filename="package://model/meshes/legs/lj4_left.dae"/>
      </geometry>
      <origin rpy="0 0 0" xyz="0 0 0"/>
    </collision>
  </link>
  <link name="leftAnklePitchLink">
    <inertial>
      <mass value="0.03"/>
      <origin rpy="0 0 0" xyz="0.0 0.0 0.0"/>
      <inertia ixx="4.377e-06" ixy="0.0" ixz="0.0" iyy="4.322e-06" iyz="0.0" izz="7.015e-06"/>
    </inertial>
    <visual>
      <geometry>
        <mesh filename="package://model/meshes/legs/lj5.dae"/>
      </geometry>
      <origin rpy="0.0 0.0 0.0" xyz="0.0 0.0 0.0"/>
    </visual>
    <collision>
      <geometry>
        <mesh filename="package://model/meshes/legs/lj5.dae"/>
      </geometry>
      <origin rpy="0 0 0" xyz="0 0 0"/>
    </collision>
  </link>
  <link name="leftFoot">
    <inertial>
      <mass value="2.27"/>
      <origin rpy="0 0 0" xyz="0.037702  0.005161  -0.047634"/>
      <inertia ixx="0.00623936" ixy="0.000217174" ixz="0.001340587" iyy="0.017786991" iyz="-0.000187749" izz="0.020774433"/>
    </inertial>
    <visual>
      <geometry>
        <mesh filename="package://model/meshes/legs/foot.dae"/>
      </geometry>
      <origin rpy="0 0 0" xyz="0 0 0"/>
    </visual>
    <collision>
      <geometry>
        <box size="0.27 0.16 0.064"/>
      </geometry>
      <origin rpy="0.0 0.0 0.0" xyz="0.066 0.0 -0.056"/>
    </collision>
    <collision group="midfoot_rear">
      <origin rpy="0 0 0" xyz="0.032 0.055 -0.09"/>
      <geometry>
        <sphere radius="0.0"/>
      </geometry>
    </collision>
    <visual group="midfoot_rear">
      <origin rpy="0 0 0" xyz="0.032 0.055 -0.09"/>
      <geometry>
        <sphere radius="0.01"/>
      </geometry>
    </visual>
    <collision group="midfoot_rear">
      <origin rpy="0 0 0" xyz="0.032 -0.055 -0.09"/>
      <geometry>
        <sphere radius="0.0"/>
      </geometry>
    </collision>
    <visual group="midfoot_rear">
      <origin rpy="0 0 0" xyz="0.032 -0.055 -0.09"/>
      <geometry>
        <sphere radius="0.01"/>
      </geometry>
    </visual>
    <collision group="midfoot_front">
      <origin rpy="0 0 0" xyz="0.102 0.055 -0.09"/>
      <geometry>
        <sphere radius="0.0"/>
      </geometry>
    </collision>
    <visual group="midfoot_front">
      <origin rpy="0 0 0" xyz="0.102 0.055 -0.09"/>
      <geometry>
        <sphere radius="0.01"/>
      </geometry>
    </visual>
    <collision group="midfoot_front">
      <origin rpy="0 0 0" xyz="0.102 -0.055 -0.09"/>
      <geometry>
        <sphere radius="0.0"/>
      </geometry>
    </collision>
    <visual group="midfoot_front">
      <origin rpy="0 0 0" xyz="0.102 -0.055 -0.09"/>
      <geometry>
        <sphere radius="0.01"/>
      </geometry>
    </visual>    
    <collision group="heel">
      <origin rpy="0 0 0" xyz="-0.038 0.055 -0.09"/>
      <geometry>
        <sphere radius="0.0"/>
      </geometry>
    </collision>
    <visual group="heel">
      <origin rpy="0 0 0" xyz="-0.038 0.055 -0.09"/>
      <geometry>
        <sphere radius="0.01"/>
      </geometry>
    </visual>
    <collision group="heel">
      <origin rpy="0 0 0" xyz="-0.038 -0.055 -0.09"/>
      <geometry>
        <sphere radius="0.0"/>
      </geometry>
    </collision>
    <visual group="heel">
      <origin rpy="0 0 0" xyz="-0.038 -0.055 -0.09"/>
      <geometry>
        <sphere radius="0.01"/>
      </geometry>
    </visual>
    <collision group="toe">
      <origin rpy="0 0 0" xyz="0.172 0.055 -0.09"/>
      <geometry>
        <sphere radius="0.0"/>
      </geometry>
    </collision>
    <visual group="toe">
      <origin rpy="0 0 0" xyz="0.172 0.055 -0.09"/>
      <geometry>
        <sphere radius="0.01"/>
      </geometry>
    </visual>
    <collision group="toe">
      <origin rpy="0 0 0" xyz="0.172 -0.055 -0.09"/>
      <geometry>
        <sphere radius="0.0"/>
      </geometry>
    </collision>
    <visual group="toe">
      <origin rpy="0 0 0" xyz="0.172 -0.055 -0.09"/>
      <geometry>
        <sphere radius="0.01"/>
      </geometry>
    </visual>
  </link>
  <joint name="leftHipYaw" type="revolute">
    <origin rpy="0.0 0.0 0.0" xyz="0.0 0.1016 -0.1853"/>
    <axis xyz="0 0 1"/>
    <parent link="pelvis"/>
    <child link="leftHipYawLink"/>
    <limit effort="190" lower="-0.4141" upper="1.1" velocity="5.89"/>
    <controller_gains Kd="0.0" Ki="0.0" Kp="0.0"/>
    <dynamics damping="0.1" friction="0.0"/>
  </joint>
  <gazebo reference="leftHipYaw">
    <provideFeedback>1</provideFeedback>
    <implicitSpringDamper>1</implicitSpringDamper>
  </gazebo>
  <joint name="leftHipRoll" type="revolute">
    <origin rpy="0.0 0.0 0.0" xyz="0.0 0.0 0.0"/>
    <axis xyz="1 0 0"/>
    <parent link="leftHipYawLink"/>
    <child link="leftHipRollLink"/>
    <limit effort="350" lower="-0.467" upper="0.5515" velocity="7"/>
    <controller_gains Kd="0.0" Ki="0.0" Kp="0.0"/>
    <dynamics damping="0.1" friction="0.0"/>
  </joint>
  <gazebo reference="leftHipRoll">
    <provideFeedback>1</provideFeedback>
    <implicitSpringDamper>1</implicitSpringDamper>
  </gazebo>
  <joint name="leftHipPitch" type="revolute">
    <origin rpy="0.0 0.0 0.0" xyz="0.0 0.0 -0.0609"/>
    <axis xyz="0 1 0"/>
    <parent link="leftHipRollLink"/>
    <child link="leftHipPitchLink"/>
    <limit effort="350" lower="-2.42" upper="1.619" velocity="6.11"/>
    <controller_gains Kd="0.0" Ki="0.0" Kp="0.0"/>
    <dynamics damping="0.1" friction="0.0"/>
  </joint>
  <gazebo reference="leftHipPitch">
    <provideFeedback>1</provideFeedback>
    <implicitSpringDamper>1</implicitSpringDamper>
  </gazebo>
  <joint name="leftKneePitch" type="revolute">
    <origin rpy="0.0 0.0 0.0" xyz="0.000112225 0.0361046 -0.430959"/>
    <axis xyz="0 1 0"/>
    <parent link="leftHipPitchLink"/>
    <child link="leftKneePitchLink"/>
    <limit effort="350" lower="-0.083" upper="2.057" velocity="6.11"/>
    <controller_gains Kd="0.0" Ki="0.0" Kp="0.0"/>
    <dynamics damping="0.1" friction="0.0"/>
  </joint>
  <gazebo reference="leftKneePitch">
    <provideFeedback>1</provideFeedback>
    <implicitSpringDamper>1</implicitSpringDamper>
  </gazebo>
  <joint name="leftAnklePitch" type="revolute">
    <origin rpy="0.0 0.0 0.0" xyz="-0.0102381 0.0 -0.40627"/>
    <axis xyz="0 1 0"/>
    <parent link="leftKneePitchLink"/>
    <child link="leftAnklePitchLink"/>
    <limit effort="205" lower="-0.8644" upper="0.875" velocity="11"/>
    <controller_gains Kd="0.0" Ki="0.0" Kp="0.0"/>
    <dynamics damping="0.1" friction="0.0"/>
  </joint>
  <gazebo reference="leftAnklePitch">
    <provideFeedback>1</provideFeedback>
    <implicitSpringDamper>1</implicitSpringDamper>
  </gazebo>
  <joint name="leftAnkleRoll" type="revolute">
    <origin rpy="0.0 0.0 0.0" xyz="0.0 0.0 0.0"/>
    <axis xyz="1 0 0"/>
    <parent link="leftAnklePitchLink"/>
    <child link="leftFoot"/>
    <limit effort="205" lower="-0.349" upper="0.348" velocity="11"/>
    <controller_gains Kd="0.0" Ki="0.0" Kp="0.0"/>
    <dynamics damping="0.3" friction="0.0"/>
  </joint>
  <gazebo reference="leftAnkleRoll">
    <provideFeedback>1</provideFeedback>
    <implicitSpringDamper>1</implicitSpringDamper>
  </gazebo>
  <link name="pelvisRearImu_Frame">
    <!-- Virtual Link -->
    <inertial>
      <mass value="1e-07"/>
      <origin rpy="0 0 0" xyz="0 0 0"/>
      <inertia ixx="3.33333333333e-22" ixy="0.0" ixz="0.0" iyy="3.33333333333e-22" iyz="0.0" izz="5e-22"/>
    </inertial>
  </link>
  <joint name="pelvisRearImu_Offset" type="fixed">
    <origin rpy="-3.14159 0.476467 -3.14159" xyz="-0.075844901 0.0 -0.111056426"/>
    <axis xyz="0 0 1"/>
    <parent link="pelvis"/>
    <child link="pelvisRearImu_Frame"/>
  </joint>
  <gazebo reference="pelvisRearImu_Offset">
    <implicitSpringDamper>1</implicitSpringDamper>
  </gazebo>
  <gazebo>
    <plugin filename="libgazebo_ros_imu.so" name="imu_plugin_ros">
      <alwaysOn>true</alwaysOn>
      <bodyName>pelvisRearImu_Frame</bodyName>
      <topicName>pelvisRearImu/imu</topicName>
      <serviceName>pelvisRearImu/imu_service</serviceName>
      <gaussianNoise>0.0</gaussianNoise>
      <updateRate>1000.0</updateRate>
    </plugin>
  </gazebo>
  <gazebo reference="pelvisRearImu_Frame">
    <sensor name="pelvisRearImu" type="imu">
      <always_on>true</always_on>
      <pose>0 0 0 0 0 0 </pose>
      <node name="/sensors/rearPelvisIMU"/>
      <api name="val_imu_gazebo_interface/ImuGazeboInterface"/>
      <port name="none"/>
      <imu>
        <noise>
          <type>gaussian</type>
          <rate>
            <mean>0</mean>
            <stddev>0.0002</stddev>
            <bias_mean>7.5e-06</bias_mean>
            <bias_stddev>8e-07</bias_stddev>
          </rate>
          <accel>
            <mean>0</mean>
            <stddev>0.017</stddev>
            <bias_mean>0.1</bias_mean>
            <bias_stddev>0.001</bias_stddev>
          </accel>
        </noise>
      </imu>
    </sensor>
  </gazebo>
  <link name="pelvisMiddleImu_Frame">
    <!-- Virtual Link -->
    <inertial>
      <mass value="1e-07"/>
      <origin rpy="0 0 0" xyz="0 0 0"/>
      <inertia ixx="3.33333333333e-22" ixy="0.0" ixz="0.0" iyy="3.33333333333e-22" iyz="0.0" izz="5e-22"/>
    </inertial>
  </link>
  <joint name="pelvisMiddleImu_Offset" type="fixed">
    <origin rpy="3.14159 0.0 0.0" xyz="0.0 0.0 -0.10819638"/>
    <axis xyz="0 0 1"/>
    <parent link="pelvis"/>
    <child link="pelvisMiddleImu_Frame"/>
  </joint>
  <gazebo reference="pelvisMiddleImu_Offset">
    <implicitSpringDamper>1</implicitSpringDamper>
  </gazebo>
  <gazebo>
    <plugin filename="libgazebo_ros_imu.so" name="imu_plugin_ros">
      <alwaysOn>true</alwaysOn>
      <bodyName>pelvisMiddleImu_Frame</bodyName>
      <topicName>pelvisMiddleImu/imu</topicName>
      <serviceName>pelvisMiddleImu/imu_service</serviceName>
      <gaussianNoise>0.0</gaussianNoise>
      <updateRate>1000.0</updateRate>
    </plugin>
  </gazebo>
  <gazebo reference="pelvisMiddleImu_Frame">
    <sensor name="pelvisMiddleImu" type="imu">
      <always_on>true</always_on>
      <pose>0 0 0 0 0 0 </pose>
      <node name="/sensors/middlePelvisIMU"/>
      <api name="val_imu_gazebo_interface/ImuGazeboInterface"/>
      <port name="none"/>
      <imu>
        <noise>
          <type>gaussian</type>
          <rate>
            <mean>0</mean>
            <stddev>0.0002</stddev>
            <bias_mean>7.5e-06</bias_mean>
            <bias_stddev>8e-07</bias_stddev>
          </rate>
          <accel>
            <mean>0</mean>
            <stddev>0.017</stddev>
            <bias_mean>0.1</bias_mean>
            <bias_stddev>0.001</bias_stddev>
          </accel>
        </noise>
      </imu>
    </sensor>
  </gazebo>
  <link name="leftCOP_Frame">
    <inertial>
      <mass value="0.1"/>
      <origin rpy="0 0 0" xyz="0 0 0"/>
      <inertia ixx="8.33333333333e-05" ixy="0.0" ixz="0.0" iyy="8.33333333333e-05" iyz="0.0" izz="0.000125"/>
    </inertial>
  </link>
  <joint name="leftCOP_Offset" type="fixed">
    <origin rpy="0.0 0.0 0.0" xyz="0.0189 0.0 -0.0783"/>
    <axis xyz="0 0 1"/>
    <parent link="leftFoot"/>
    <child link="leftCOP_Frame"/>
  </joint>
  <gazebo reference="leftCOP_Offset">
    <implicitSpringDamper>1</implicitSpringDamper>
  </gazebo>
  <gazebo reference="leftAnkleRoll">
  </gazebo>
  <link name="rightCOP_Frame">
    <inertial>
      <mass value="0.1"/>
      <origin rpy="0 0 0" xyz="0 0 0"/>
      <inertia ixx="8.33333333333e-05" ixy="0.0" ixz="0.0" iyy="8.33333333333e-05" iyz="0.0" izz="0.000125"/>
    </inertial>
  </link>
  <joint name="rightCOP_Offset" type="fixed">
    <origin rpy="0.0 0.0 0.0" xyz="0.0189 0.0 -0.0783"/>
    <axis xyz="0 0 1"/>
    <parent link="rightFoot"/>
    <child link="rightCOP_Frame"/>
  </joint>
  <gazebo reference="rightCOP_Offset">
    <implicitSpringDamper>1</implicitSpringDamper>
  </gazebo>
  <gazebo reference="rightAnkleRoll">
  </gazebo>
  <joint name="multisense_head_root_joint" type="fixed">
    <origin rpy="-3.14159 0.130899694 0.0" xyz="0.183585961 0.0 0.075353826"/>
    <axis xyz="0 0 1"/>
    <parent link="upperNeckPitchLink"/>
    <child link="head"/>
  </joint>
  <gazebo reference="multisense_head_root_joint">
    <implicitSpringDamper>1</implicitSpringDamper>
  </gazebo>
  <link name="leftTorsoImu_Frame">
    <!-- Virtual Link -->
    <inertial>
      <mass value="1e-07"/>
      <origin rpy="0 0 0" xyz="0 0 0"/>
      <inertia ixx="3.33333333333e-22" ixy="0.0" ixz="0.0" iyy="3.33333333333e-22" iyz="0.0" izz="5e-22"/>
    </inertial>
  </link>
  <joint name="leftTorsoImu_Offset" type="fixed">
    <origin rpy="-1.5707 0.0 0.0" xyz="-0.0627634 0.134239 0.3630676"/>
    <axis xyz="0 0 1"/>
    <parent link="torso"/>
    <child link="leftTorsoImu_Frame"/>
  </joint>
  <gazebo reference="leftTorsoImu_Offset">
    <implicitSpringDamper>1</implicitSpringDamper>
  </gazebo>
  <gazebo>
    <plugin filename="libgazebo_ros_imu.so" name="imu_plugin_ros">
      <alwaysOn>true</alwaysOn>
      <bodyName>leftTorsoImu_Frame</bodyName>
      <topicName>leftTorsoImu/imu</topicName>
      <serviceName>leftTorsoImu/imu_service</serviceName>
      <gaussianNoise>0.0</gaussianNoise>
      <updateRate>1000.0</updateRate>
    </plugin>
  </gazebo>
  <gazebo reference="leftTorsoImu_Frame">
    <sensor name="leftTorsoImu" type="imu">
      <always_on>true</always_on>
      <pose>0 0 0 0 0 0 </pose>
      <node name="/sensors/leftTorsoIMU"/>
      <api name="val_imu_gazebo_interface/ImuGazeboInterface"/>
      <port name="none"/>
      <imu>
        <noise>
          <type>gaussian</type>
          <rate>
            <mean>0</mean>
            <stddev>0.0002</stddev>
            <bias_mean>7.5e-06</bias_mean>
            <bias_stddev>8e-07</bias_stddev>
          </rate>
          <accel>
            <mean>0</mean>
            <stddev>0.017</stddev>
            <bias_mean>0.1</bias_mean>
            <bias_stddev>0.001</bias_stddev>
          </accel>
        </noise>
      </imu>
    </sensor>
  </gazebo>
  <link name="rightHazardCamera_Frame">
    <!-- Virtual Link -->
    <inertial>
      <mass value="1e-07"/>
      <origin rpy="0 0 0" xyz="0 0 0"/>
      <inertia ixx="3.33333333333e-22" ixy="0.0" ixz="0.0" iyy="3.33333333333e-22" iyz="0.0" izz="5e-22"/>
    </inertial>
  </link>
  <gazebo reference="rightHazardCamera_Frame">
    <sensor name="rightHazardCamera" type="camera">
      <camera>
        <image>
          <width>1280</width>
          <height>1024</height>
          <format>R8G8B8</format>
        </image>
        <horizontal_fov>1.378</horizontal_fov>
        <clip>
          <near>0.1</near>
          <far>100</far>
        </clip>
      </camera>
      <update_rate>60</update_rate>
    </sensor>
  </gazebo>
  <joint name="rightHazardCamera_Offset" type="fixed">
    <origin rpy="1.57 0.0 1.57" xyz="0.0345 -0.0406 0.1135"/>
    <axis xyz="0 0 1"/>
    <parent link="torso"/>
    <child link="rightHazardCamera_Frame"/>
  </joint>
  <gazebo reference="rightHazardCamera_Offset">
    <implicitSpringDamper>1</implicitSpringDamper>
  </gazebo>
  <link name="leftHazardCamera_Frame">
    <!-- Virtual Link -->
    <inertial>
      <mass value="1e-07"/>
      <origin rpy="0 0 0" xyz="0 0 0"/>
      <inertia ixx="3.33333333333e-22" ixy="0.0" ixz="0.0" iyy="3.33333333333e-22" iyz="0.0" izz="5e-22"/>
    </inertial>
  </link>
  <gazebo reference="leftHazardCamera_Frame">
    <sensor name="leftHazardCamera" type="camera">
      <camera>
        <image>
          <width>1280</width>
          <height>1024</height>
          <format>R8G8B8</format>
        </image>
        <horizontal_fov>1.378</horizontal_fov>
        <clip>
          <near>0.1</near>
          <far>100</far>
        </clip>
      </camera>
      <update_rate>60</update_rate>
    </sensor>
  </gazebo>
  <joint name="leftHazardCamera_Offset" type="fixed">
    <origin rpy="1.57 0.0 1.57" xyz="0.0345 0.0406 0.1135"/>
    <axis xyz="0 0 1"/>
    <parent link="torso"/>
    <child link="leftHazardCamera_Frame"/>
  </joint>
  <gazebo reference="leftHazardCamera_Offset">
    <implicitSpringDamper>1</implicitSpringDamper>
  </gazebo>
  <transmission name="torsoYawTransmission">
    <type>transmission_interface/SimpleTransmission</type>
    <joint name="torsoYaw">
      <hardwareInterface>EffortJointInterface</hardwareInterface>
    </joint>
    <actuator name="torsoYaw">
      <node name="/pelvis/waist"/>
      <mechanicalReduction>1</mechanicalReduction>
      <api name="robot_hardware_interface/TurbodriverSimAPI"/>
    </actuator>
  </transmission>
  <transmission name="torsoPitchTransmission">
    <type>transmission_interface/SimpleTransmission</type>
    <joint name="torsoPitch">
      <hardwareInterface>EffortJointInterface</hardwareInterface>
    </joint>
    <actuator name="waistPitchActuator">
      <node name="/trunk/pitch_actuator"/>
      <mechanicalReduction>1</mechanicalReduction>
      <api name="robot_hardware_interface/TurbodriverSimAPI"/>
    </actuator>
  </transmission>
  <transmission name="torsoRollTransmission">
    <type>transmission_interface/SimpleTransmission</type>
    <joint name="torsoRoll">
      <hardwareInterface>EffortJointInterface</hardwareInterface>
    </joint>
    <actuator name="waistRollActuator">
      <node name="/trunk/roll_actuator"/>
      <mechanicalReduction>1</mechanicalReduction>
      <api name="robot_hardware_interface/TurbodriverSimAPI"/>
    </actuator>
  </transmission>
  <transmission name="leftHipYawTransmission">
    <type>transmission_interface/SimpleTransmission</type>
    <joint name="leftHipYaw">
      <hardwareInterface>EffortJointInterface</hardwareInterface>
    </joint>
    <actuator name="leftHipYaw">
      <node name="/pelvis/left_leg_j1"/>
      <mechanicalReduction>1</mechanicalReduction>
      <api name="robot_hardware_interface/TurbodriverSimAPI"/>
    </actuator>
  </transmission>
  <transmission name="leftHipRollTransmission">
    <type>transmission_interface/SimpleTransmission</type>
    <joint name="leftHipRoll">
      <hardwareInterface>EffortJointInterface</hardwareInterface>
    </joint>
    <actuator name="leftHipRoll">
      <node name="/left_leg/j2"/>
      <mechanicalReduction>1</mechanicalReduction>
      <api name="robot_hardware_interface/TurbodriverSimAPI"/>
    </actuator>
  </transmission>
  <transmission name="leftHipPitchTransmission">
    <type>transmission_interface/SimpleTransmission</type>
    <joint name="leftHipPitch">
      <hardwareInterface>EffortJointInterface</hardwareInterface>
    </joint>
    <actuator name="leftHipPitch">
      <node name="/left_leg/j3"/>
      <mechanicalReduction>1</mechanicalReduction>
      <api name="robot_hardware_interface/TurbodriverSimAPI"/>
    </actuator>
  </transmission>
  <transmission name="leftKneePitchTransmission">
    <type>transmission_interface/SimpleTransmission</type>
    <joint name="leftKneePitch">
      <hardwareInterface>EffortJointInterface</hardwareInterface>
    </joint>
    <actuator name="leftKneePitch">
      <node name="/left_leg/j4"/>
      <mechanicalReduction>1</mechanicalReduction>
      <api name="robot_hardware_interface/TurbodriverSimAPI"/>
    </actuator>
  </transmission>
  <transmission name="leftAnklePitchTransmission">
    <type>transmission_interface/SimpleTransmission</type>
    <joint name="leftAnklePitch">
      <hardwareInterface>EffortJointInterface</hardwareInterface>
    </joint>
    <actuator name="leftAnklePitchActuator">
      <node name="/left_leg/ankle/pitch_actuator"/>
      <mechanicalReduction>1</mechanicalReduction>
      <api name="robot_hardware_interface/TurbodriverSimAPI"/>
    </actuator>
  </transmission>
  <transmission name="leftAnkleRollTransmission">
    <type>transmission_interface/SimpleTransmission</type>
    <joint name="leftAnkleRoll">
      <hardwareInterface>EffortJointInterface</hardwareInterface>
    </joint>
    <actuator name="leftAnkleRollActuator">
      <node name="/left_leg/ankle/roll_actuator"/>
      <mechanicalReduction>1</mechanicalReduction>
      <api name="robot_hardware_interface/TurbodriverSimAPI"/>
    </actuator>
  </transmission>
  <transmission name="rightHipYawTransmission">
    <type>transmission_interface/SimpleTransmission</type>
    <joint name="rightHipYaw">
      <hardwareInterface>EffortJointInterface</hardwareInterface>
    </joint>
    <actuator name="rightHipYaw">
      <node name="/pelvis/right_leg_j1"/>
      <mechanicalReduction>1</mechanicalReduction>
      <api name="robot_hardware_interface/TurbodriverSimAPI"/>
    </actuator>
  </transmission>
  <transmission name="rightHipRollTransmission">
    <type>transmission_interface/SimpleTransmission</type>
    <joint name="rightHipRoll">
      <hardwareInterface>EffortJointInterface</hardwareInterface>
    </joint>
    <actuator name="rightHipRoll">
      <node name="/right_leg/j2"/>
      <mechanicalReduction>1</mechanicalReduction>
      <api name="robot_hardware_interface/TurbodriverSimAPI"/>
    </actuator>
  </transmission>
  <transmission name="rightHipPitchTransmission">
    <type>transmission_interface/SimpleTransmission</type>
    <joint name="rightHipPitch">
      <hardwareInterface>EffortJointInterface</hardwareInterface>
    </joint>
    <actuator name="rightHipPitch">
      <node name="/right_leg/j3"/>
      <mechanicalReduction>1</mechanicalReduction>
      <api name="robot_hardware_interface/TurbodriverSimAPI"/>
    </actuator>
  </transmission>
  <transmission name="rightKneePitchTransmission">
    <type>transmission_interface/SimpleTransmission</type>
    <joint name="rightKneePitch">
      <hardwareInterface>EffortJointInterface</hardwareInterface>
    </joint>
    <actuator name="rightKneePitch">
      <node name="/right_leg/j4"/>
      <mechanicalReduction>1</mechanicalReduction>
      <api name="robot_hardware_interface/TurbodriverSimAPI"/>
    </actuator>
  </transmission>
  <transmission name="rightAnklePitchTransmission">
    <type>transmission_interface/SimpleTransmission</type>
    <joint name="rightAnklePitch">
      <hardwareInterface>EffortJointInterface</hardwareInterface>
    </joint>
    <actuator name="rightAnklePitchActuator">
      <node name="/right_leg/ankle/pitch_actuator"/>
      <mechanicalReduction>1</mechanicalReduction>
      <api name="robot_hardware_interface/TurbodriverSimAPI"/>
    </actuator>
  </transmission>
  <transmission name="rightAnkleRollTransmission">
    <type>transmission_interface/SimpleTransmission</type>
    <joint name="rightAnkleRoll">
      <hardwareInterface>EffortJointInterface</hardwareInterface>
    </joint>
    <actuator name="rightAnkleRollActuator">
      <node name="/right_leg/ankle/roll_actuator"/>
      <mechanicalReduction>1</mechanicalReduction>
      <api name="robot_hardware_interface/TurbodriverSimAPI"/>
    </actuator>
  </transmission>
  <transmission name="leftShoulderPitchTransmission">
    <type>transmission_interface/SimpleTransmission</type>
    <joint name="leftShoulderPitch">
      <hardwareInterface>EffortJointInterface</hardwareInterface>
    </joint>
    <actuator name="leftShoulderPitch">
      <node name="/trunk/left_arm_j1"/>
      <mechanicalReduction>1</mechanicalReduction>
      <api name="robot_hardware_interface/TurbodriverSimAPI"/>
    </actuator>
  </transmission>
  <transmission name="leftShoulderRollTransmission">
    <type>transmission_interface/SimpleTransmission</type>
    <joint name="leftShoulderRoll">
      <hardwareInterface>EffortJointInterface</hardwareInterface>
    </joint>
    <actuator name="leftShoulderRoll">
      <node name="/left_arm/j2"/>
      <mechanicalReduction>1</mechanicalReduction>
      <api name="robot_hardware_interface/TurbodriverSimAPI"/>
    </actuator>
  </transmission>
  <transmission name="leftShoulderYawTransmission">
    <type>transmission_interface/SimpleTransmission</type>
    <joint name="leftShoulderYaw">
      <hardwareInterface>EffortJointInterface</hardwareInterface>
    </joint>
    <actuator name="leftShoulderYaw">
      <node name="/left_arm/j3"/>
      <mechanicalReduction>1</mechanicalReduction>
      <api name="robot_hardware_interface/TurbodriverSimAPI"/>
    </actuator>
  </transmission>
  <transmission name="leftElbowPitchTransmission">
    <type>transmission_interface/SimpleTransmission</type>
    <joint name="leftElbowPitch">
      <hardwareInterface>EffortJointInterface</hardwareInterface>
    </joint>
    <actuator name="leftElbowPitch">
      <node name="/left_arm/j4"/>
      <mechanicalReduction>1</mechanicalReduction>
      <api name="robot_hardware_interface/TurbodriverSimAPI"/>
    </actuator>
  </transmission>
  <transmission name="leftForearmYawTransmission">
    <type>transmission_interface/SimpleTransmission</type>
    <joint name="leftForearmYaw">
      <hardwareInterface>PositionJointInterface</hardwareInterface>
    </joint>
    <actuator name="leftForearmYaw">
      <node name="/left_arm/j5"/>
      <mechanicalReduction>1</mechanicalReduction>
      <api name="robot_hardware_interface/TurbodriverSimAPI"/>
    </actuator>
  </transmission>
  <transmission name="leftWristRollTransmission">
    <type>transmission_interface/SimpleTransmission</type>
    <joint name="leftWristRoll">
      <hardwareInterface>PositionJointInterface</hardwareInterface>
    </joint>
    <actuator name="leftWristRollActuator">
      <node name="/left_arm/wrist/roll_actautor"/>
      <mechanicalReduction>1</mechanicalReduction>
      <api name="robot_hardware_interface/TurbodriverSimAPI"/>
    </actuator>
  </transmission>
  <transmission name="leftWristPitchTransmission">
    <type>transmission_interface/SimpleTransmission</type>
    <joint name="leftWristPitch">
      <hardwareInterface>PositionJointInterface</hardwareInterface>
    </joint>
    <actuator name="leftWristPitchActuator">
      <node name="/left_arm/wrist/pitch_actuator"/>
      <mechanicalReduction>1</mechanicalReduction>
      <api name="robot_hardware_interface/TurbodriverSimAPI"/>
    </actuator>
  </transmission>
  <transmission name="rightShoulderPitchTransmission">
    <type>transmission_interface/SimpleTransmission</type>
    <joint name="rightShoulderPitch">
      <hardwareInterface>EffortJointInterface</hardwareInterface>
    </joint>
    <actuator name="rightShoulderPitch">
      <node name="/trunk/right_arm_j1"/>
      <mechanicalReduction>1</mechanicalReduction>
      <api name="robot_hardware_interface/TurbodriverSimAPI"/>
    </actuator>
  </transmission>
  <transmission name="rightShoulderRollTransmission">
    <type>transmission_interface/SimpleTransmission</type>
    <joint name="rightShoulderRoll">
      <hardwareInterface>EffortJointInterface</hardwareInterface>
    </joint>
    <actuator name="rightShoulderRoll">
      <node name="/right_arm/j2"/>
      <mechanicalReduction>1</mechanicalReduction>
      <api name="robot_hardware_interface/TurbodriverSimAPI"/>
    </actuator>
  </transmission>
  <transmission name="rightShoulderYawTransmission">
    <type>transmission_interface/SimpleTransmission</type>
    <joint name="rightShoulderYaw">
      <hardwareInterface>EffortJointInterface</hardwareInterface>
    </joint>
    <actuator name="rightShoulderYaw">
      <node name="/right_arm/j3"/>
      <mechanicalReduction>1</mechanicalReduction>
      <api name="robot_hardware_interface/TurbodriverSimAPI"/>
    </actuator>
  </transmission>
  <transmission name="rightElbowPitchTransmission">
    <type>transmission_interface/SimpleTransmission</type>
    <joint name="rightElbowPitch">
      <hardwareInterface>EffortJointInterface</hardwareInterface>
    </joint>
    <actuator name="rightElbowPitch">
      <node name="/right_arm/j4"/>
      <mechanicalReduction>1</mechanicalReduction>
      <api name="robot_hardware_interface/TurbodriverSimAPI"/>
    </actuator>
  </transmission>
  <transmission name="rightForearmYawTransmission">
    <type>transmission_interface/SimpleTransmission</type>
    <joint name="rightForearmYaw">
      <hardwareInterface>PositionJointInterface</hardwareInterface>
    </joint>
    <actuator name="rightForearmYaw">
      <node name="/right_arm/j5"/>
      <mechanicalReduction>1</mechanicalReduction>
      <api name="robot_hardware_interface/TurbodriverSimAPI"/>
    </actuator>
  </transmission>
  <transmission name="rightWristRollTransmission">
    <type>transmission_interface/SimpleTransmission</type>
    <joint name="rightWristRoll">
      <hardwareInterface>PositionJointInterface</hardwareInterface>
    </joint>
    <actuator name="rightWristRollActuator">
      <node name="/right_arm/wrist/roll_actautor"/>
      <mechanicalReduction>1</mechanicalReduction>
      <api name="robot_hardware_interface/TurbodriverSimAPI"/>
    </actuator>
  </transmission>
  <transmission name="rightWristPitchTransmission">
    <type>transmission_interface/SimpleTransmission</type>
    <joint name="rightWristPitch">
      <hardwareInterface>PositionJointInterface</hardwareInterface>
    </joint>
    <actuator name="rightWristPitchActuator">
      <node name="/right_arm/wrist/pitch_actuator"/>
      <mechanicalReduction>1</mechanicalReduction>
      <api name="robot_hardware_interface/TurbodriverSimAPI"/>
    </actuator>
  </transmission>
  <transmission name="lowerNeckPitchTransmission">
    <type>transmission_interface/SimpleTransmission</type>
    <joint name="lowerNeckPitch">
      <hardwareInterface>PositionJointInterface</hardwareInterface>
    </joint>
    <actuator name="lowerNeckPitch">
      <node name="/neck/j1"/>
      <mechanicalReduction>1</mechanicalReduction>
      <api name="robot_hardware_interface/TurbodriverSimAPI"/>
    </actuator>
  </transmission>
  <transmission name="neckYawTransmission">
    <type>transmission_interface/SimpleTransmission</type>
    <joint name="neckYaw">
      <hardwareInterface>PositionJointInterface</hardwareInterface>
    </joint>
    <actuator name="neckYaw">
      <node name="/neck/j2"/>
      <mechanicalReduction>1</mechanicalReduction>
      <api name="robot_hardware_interface/TurbodriverSimAPI"/>
    </actuator>
  </transmission>
  <transmission name="upperNeckPitchTransmission">
    <type>transmission_interface/SimpleTransmission</type>
    <joint name="upperNeckPitch">
      <hardwareInterface>PositionJointInterface</hardwareInterface>
    </joint>
    <actuator name="upperNeckPitch">
      <node name="/neck/j3"/>
      <mechanicalReduction>1</mechanicalReduction>
      <api name="robot_hardware_interface/TurbodriverSimAPI"/>
    </actuator>
  </transmission>
  <!-- Head Link Simple Collision Meshes -->
  <link name="head">
    <inertial>
      <origin rpy="0 0 0" xyz="-0.075493 3.3383E-05 0.02774"/>
      <mass value="1.41984"/>
      <inertia ixx="0.0039688" ixy="-1.5797E-06" ixz="-0.00089293" iyy="0.0041178" iyz="-6.8415E-07" izz="0.0035243"/>
    </inertial>
    <!--     <visual>
      <origin xyz="0 0 0" rpy="0 0 0" />
      <geometry>
        <mesh filename="package://model/meshes/multisense/head.dae" />
      </geometry>
      <material name="">
        <color rgba="0.9098 0.44314 0.031373 1" />
      </material>
    </visual> -->
    <collision>
      <origin rpy="0 0 0" xyz="-0.0503 0 -0.00195"/>
      <geometry>
        <box size="0.1311 0.12 0.0591"/>
      </geometry>
    </collision>
    <collision>
      <origin rpy="0 0 0" xyz="-0.093 0 0.0868"/>
      <geometry>
        <box size="0.0468 0.12 0.1184"/>
      </geometry>
    </collision>
  </link>
  <link name="hokuyo_link">
    <inertial>
      <origin rpy="0 0 0" xyz="0.032428 0.0004084 -0.0041835"/>
      <mass value="0.057654"/>
      <inertia ixx="3.7174E-05" ixy="4.9927E-08" ixz="1.1015E-05" iyy="4.2412E-05" iyz="-9.8165E-09" izz="4.167E-05"/>
    </inertial>
    <visual>
      <!--origin xyz="0.065774 -0.001163 -0.08809" rpy="0 0 0" /-->
      <!--origin xyz="0.045 -0.001163 -0.08809" rpy="-0.314 0 0" /-->
      <origin rpy="-0.314 0 0" xyz="0.045 -0.0261018277 -0.08342369"/>
      <geometry>
        <mesh filename="package://model/meshes/multisense/head_camera.dae"/>
      </geometry>
      <material name="">
        <color rgba="0.72941 0.35686 0.023529 1"/>
      </material>
    </visual>
    <collision>
      <origin rpy="0 0 0" xyz="0.01885 0 -0.02119"/>
      <geometry>
        <box size="0.08 0.06 0.04238"/>
      </geometry>
    </collision>
    <collision>
      <origin rpy="0 0 0" xyz="0.03 0 0.0235"/>
      <geometry>
        <cylinder length="0.047" radius="0.024425"/>
      </geometry>
    </collision>
  </link>
  <gazebo reference="head">
    <mu1>0.9</mu1>
    <mu2>0.9</mu2>
  </gazebo>
  <gazebo reference="hokuyo_link">
    <mu1>0.9</mu1>
    <mu2>0.9</mu2>
  </gazebo>
  <joint name="hokuyo_joint" type="fixed">
    <origin rpy="0 0 0" xyz="-0.0446 0 0.0880"/>
    <parent link="head"/>
    <child link="hokuyo_link"/>
    <axis xyz="1 0 0"/>
    <dynamics damping="0.01" friction="0"/>
  </joint>
  <gazebo reference="hokuyo_joint">
    <implicitSpringDamper>1</implicitSpringDamper>
  </gazebo>
  <!-- Hokuyo Laser -->
  <joint name="head_hokuyo_joint" type="fixed">
    <axis xyz="0 1 0"/>
    <origin rpy="0 0 0" xyz="0.03 0 0.015"/>
    <parent link="hokuyo_link"/>
    <child link="head_hokuyo_frame"/>
  </joint>
  <link name="head_hokuyo_frame">
    <inertial>
      <mass value="1e-5"/>
      <!-- collocate with parent link and remove mass from it -->
      <origin rpy="0 0 0" xyz="0.042428 0.0004084 0.0108165"/>
      <inertia ixx="1e-6" ixy="0" ixz="0" iyy="1e-6" iyz="0" izz="1e-6"/>
    </inertial>
  </link>
  <gazebo reference="head_hokuyo_frame">
    <sensor name="head_hokuyo_sensor" type="gpu_ray">
      <pose>0 0 0 0 0 0</pose>
      <visualize>false</visualize>
      <update_rate>40</update_rate>
      <ray>
        <scan>
          <horizontal>
            <samples>1081</samples>
            <resolution>1</resolution>
            <min_angle>-2.356194</min_angle>
            <max_angle>2.356194</max_angle>
          </horizontal>
        </scan>
        <range>
          <min>0.10</min>
          <max>30.0</max>
          <resolution>0.01</resolution>
        </range>
        <noise>
          <type>gaussian</type>
          <!-- Noise parameters based on published spec for Hokuyo laser
               achieving "+-30mm" accuracy at range < 10m.  A mean of 0.0m and
               stddev of 0.01m will put 99.7% of samples within 0.03m of the true
               reading. -->
          <mean>0.0</mean>
          <stddev>0.01</stddev>
        </noise>
      </ray>
    </sensor>
  </gazebo>
  <!-- Stereo Camera -->
  <joint name="left_camera_frame_joint" type="fixed">
    <!-- optical frame collocated with tilting DOF -->
    <origin xyz="0.0 0.035 -0.002"/>
    <parent link="head"/>
    <child link="left_camera_frame"/>
  </joint>
  <link name="left_camera_frame">
    <inertial>
      <mass value="1e-5"/>
      <!-- collocate with parent link and remove mass from it -->
      <origin xyz="-0.075493 0.035033383 0.02574"/>
      <inertia ixx="1e-6" ixy="0" ixz="0" iyy="1e-6" iyz="0" izz="1e-6"/>
    </inertial>
  </link>
  <joint name="left_camera_optical_frame_joint" type="fixed">
    <origin rpy="-1.5708 0.0 -1.5708" xyz="0 0 0"/>
    <parent link="left_camera_frame"/>
    <child link="left_camera_optical_frame"/>
  </joint>
  <link name="left_camera_optical_frame"/>
  <gazebo reference="left_camera_frame">
    <sensor name="stereo_camera" type="multicamera">
      <!-- see MultiSenseSLPlugin.h for available modes -->
      <update_rate>10.0</update_rate>
      <camera name="left">
        <!-- Spec sheet says 80deg X 45deg @ 1024x544pix.  Based on feedback
             from teams, we're instead doing 80deg X 80deg @ 800x800pix. -->
        <horizontal_fov>1.3962634</horizontal_fov>
        <image>
          <width>1024</width>
          <height>544</height>
          <format>R8G8B8</format>
        </image>
        <clip>
          <near>0.02</near>
          <far>300</far>
        </clip>
        <noise>
          <type>gaussian</type>
          <!-- Noise is sampled independently per pixel on each frame.  
               That pixel's noise value is added to each of its color
               channels, which at that point lie in the range [0,1].
               The stddev value of 0.007 is based on experimental data 
               from a camera in a Sandia hand pointed at a static scene
               in a couple of different lighting conditions.  -->
          <mean>0.0</mean>
          <stddev>0.007</stddev>
        </noise>
      </camera>
      <camera name="right">
        <pose>0 -0.07 0 0 0 0</pose>
        <!-- Spec sheet says 80deg X 45deg @ 1024x544pix. -->
        <horizontal_fov>1.3962634</horizontal_fov>
        <image>
          <width>1024</width>
          <height>544</height>
          <format>R8G8B8</format>
        </image>
        <clip>
          <near>0.02</near>
          <far>300</far>
        </clip>
        <noise>
          <type>gaussian</type>
          <!-- Noise is sampled independently per pixel on each frame.  
               That pixel's noise value is added to each of its color
               channels, which at that point lie in the range [0,1].
               The stddev value of 0.007 is based on experimental data 
               from a camera in a Sandia hand pointed at a static scene
               in a couple of different lighting conditions.  -->
          <mean>0.0</mean>
          <stddev>0.007</stddev>
        </noise>
      </camera>
    </sensor>
  </gazebo>
  <joint name="right_camera_frame_joint" type="fixed">
    <origin xyz="0.0 -0.035 -0.002"/>
    <parent link="head"/>
    <child link="right_camera_frame"/>
  </joint>
  <link name="right_camera_frame">
    <inertial>
      <mass value="1e-5"/>
      <!-- collocate with parent link and remove mass from it -->
      <origin xyz="-0.075493 -0.034966617 0.02574"/>
      <inertia ixx="1e-6" ixy="0" ixz="0" iyy="1e-6" iyz="0" izz="1e-6"/>
    </inertial>
  </link>
  <joint name="right_camera_optical_frame_joint" type="fixed">
    <origin rpy="-1.5708 0.0 -1.5708" xyz="0 0 0"/>
    <parent link="right_camera_frame"/>
    <child link="right_camera_optical_frame"/>
  </joint>
  <link name="right_camera_optical_frame"/>
  <joint name="center_top_led_frame_joint" type="fixed">
    <origin xyz="0.01125 0.0 0.0105"/>
    <parent link="head"/>
    <child link="center_top_led_frame"/>
  </joint>
  <link name="center_top_led_frame">
    <inertial>
      <mass value="1e-5"/>
      <!-- collocate with parent link and remove mass from it -->
      <origin rpy="0 0 0" xyz="-0.064243 0.000033383 0.03824"/>
      <inertia ixx="1e-6" ixy="0" ixz="0" iyy="1e-6" iyz="0" izz="1e-6"/>
    </inertial>
  </link>
  <joint name="center_bottom_led_frame_joint" type="fixed">
    <origin xyz="0.01125 0.0 -0.0155"/>
    <parent link="head"/>
    <child link="center_bottom_led_frame"/>
  </joint>
  <link name="center_bottom_led_frame">
    <inertial>
      <mass value="1e-5"/>
      <!-- collocate with parent link and remove mass from it -->
      <origin rpy="0 0 0" xyz="-0.064243 0.000033383 0.01224"/>
      <inertia ixx="1e-6" ixy="0" ixz="0" iyy="1e-6" iyz="0" izz="1e-6"/>
    </inertial>
  </link>
  <joint name="left_led_frame_joint" type="fixed">
    <origin rpy="0 -0.15 0.53" xyz="-0.01443 0.07452 0.050346"/>
    <parent link="head"/>
    <child link="left_led_frame"/>
  </joint>
  <link name="left_led_frame">
    <inertial>
      <mass value="1e-5"/>
      <!-- collocate with parent link and remove mass from it -->
      <origin rpy="0 -0.15 0.53" xyz="-0.089923 0.074553383 0.078086"/>
      <inertia ixx="1e-6" ixy="0" ixz="0" iyy="1e-6" iyz="0" izz="1e-6"/>
    </inertial>
  </link>
  <joint name="right_led_frame_joint" type="fixed">
    <origin rpy="0 -0.15 -0.53" xyz="-0.01443 -0.07452 0.050346"/>
    <parent link="head"/>
    <child link="right_led_frame"/>
  </joint>
  <link name="right_led_frame">
    <inertial>
      <mass value="1e-5"/>
      <!-- collocate with parent link and remove mass from it -->
      <origin rpy="0 -0.15 -0.53" xyz="-0.089923 -0.074486617 0.07908"/>
      <inertia ixx="1e-6" ixy="0" ixz="0" iyy="1e-6" iyz="0" izz="1e-6"/>
    </inertial>
  </link>
  <!-- imu link -->
  <link name="head_imu_link">
    <inertial>
      <mass value="1e-5"/>
      <!-- collocate with parent link and remove mass from it -->
      <origin rpy="0 0 0" xyz="-0.122993 0.035033383 0.02774"/>
      <inertia ixx="1e-6" ixy="0" ixz="0" iyy="1e-6" iyz="0" izz="1e-6"/>
    </inertial>
    <visual>
      <origin rpy="0 0 0" xyz="0 0 0"/>
      <geometry>
        <box size="0.01 0.01 0.01"/>
      </geometry>
    </visual>
  </link>
  <joint name="head_imu_joint" type="fixed">
    <parent link="head"/>
    <child link="head_imu_link"/>
    <!-- putting it at the same z-level as the stereo -->
    <origin rpy="0 0 0" xyz="-0.0475 0.035 0.0"/>
  </joint>
  <gazebo reference="head_imu_link">
    <!-- this is expected to be reparented to head with appropriate offset
         when head_imu_link is reduced by fixed joint reduction -->
    <!-- todo: this is working with gazebo 1.4, need to write a unit test -->
    <sensor name="head_imu_sensor" type="imu">
      <always_on>1</always_on>
      <update_rate>1000.0</update_rate>
      <imu>
        <noise>
          <type>gaussian</type>
          <!-- Noise parameters from Boston Dynamics
               (http://gazebosim.org/wiki/Sensor_noise):
                 rates (rad/s): mean=0, stddev=2e-4
                 accels (m/s/s): mean=0, stddev=1.7e-2
                 rate bias (rad/s): 5e-6 - 1e-5
                 accel bias (m/s/s): 1e-1
               Experimentally, simulation provide rates with noise of
               about 1e-3 rad/s and accels with noise of about 1e-1 m/s/s.
               So we don't expect to see the noise unless number of inner iterations
               are increased.

               We will add bias.  In this model, bias is sampled once for rates
               and once for accels at startup; the sign (negative or positive)
               of each bias is then switched with equal probability.  Thereafter,
               the biases are fixed additive offsets.  We choose
               bias means and stddevs to produce biases close to the provided
               data. -->
          <rate>
            <mean>0.0</mean>
            <stddev>2e-4</stddev>
            <bias_mean>0.0000075</bias_mean>
            <bias_stddev>0.0000008</bias_stddev>
          </rate>
          <accel>
            <mean>0.0</mean>
            <stddev>1.7e-2</stddev>
            <bias_mean>0.1</bias_mean>
            <bias_stddev>0.001</bias_stddev>
          </accel>
        </noise>
      </imu>
    </sensor>
  </gazebo>
  <!-- drake feet mods-->
  <frame link="leftFoot" name="l_foot_sole" rpy="0 0 0" xyz="0.067  0 -0.09"/>
  <frame link="rightFoot" name="r_foot_sole" rpy="0 0 0" xyz="0.067 0 -0.09"/>
  <frame link="leftFoot" name="l_foot_toe" rpy="0 0 0" xyz="0.172  0 -0.09"/>
  <frame link="rightFoot" name="r_foot_toe" rpy="0 0 0" xyz="0.172 0 -0.09"/>
  <!-- end drake feet mods-->
  <!-- drake left hand frames-->
  <link name="l_hand_force_torque">
    <inertial>
      <mass value="0.001"/>
      <origin xyz="0 0 0"/>
      <inertia ixx="0.00001" ixy="0" ixz="0" iyy="0.00001" iyz="0" izz="0.00001"/>
    </inertial>
    <visual>
      <origin rpy="0 0 0" xyz="0 0 0"/>
      <geometry>
        <box size="0.01 0.01 0.01"/>
      </geometry>
    </visual>
  </link>
  <joint name="l_hand_force_torque_joint" type="fixed">
    <origin rpy="-1.57079632679 0 1.57079632679" xyz="0 0 0"/>
    <parent link="leftPalm"/>
    <child link="l_hand_force_torque"/>
  </joint>
  <link name="left_palm">
    <inertial>
      <mass value="0.001"/>
      <origin xyz="0 0 0"/>
      <inertia ixx="0.00001" ixy="0" ixz="0" iyy="0.00001" iyz="0" izz="0.00001"/>
    </inertial>
    <visual>
      <origin rpy="0 0 0" xyz="0 0 0"/>
      <geometry>
        <box size="0.01 0.01 0.01"/>
      </geometry>
    </visual>
  </link>
  <joint name="left_valkyrie_hand_joint" type="fixed">
    <origin rpy="1.57079632679 1.57079632679 0" xyz="0.08 0 0"/>
    <parent link="l_hand_force_torque"/>
    <child link="left_palm"/>
  </joint>
  <link name="l_hand_face">
    <inertial>
      <mass value="0.001"/>
      <origin xyz="0 0 0"/>
      <inertia ixx="0.00001" ixy="0" ixz="0" iyy="0.00001" iyz="0" izz="0.00001"/>
    </inertial>
  </link>
  <joint name="l_hand_face_joint" type="fixed">
    <origin rpy="3.14159265359 0 1.57079632679" xyz="0.07 0.0 -0.08"/>
    <parent link="l_hand_force_torque"/>
    <child link="l_hand_face"/>
  </joint>
  <!-- end drake left hand frames-->
  <!-- drake right hand frames-->
  <link name="r_hand_force_torque">
    <inertial>
      <mass value="0.001"/>
      <origin xyz="0 0 0"/>
      <inertia ixx="0.00001" ixy="0" ixz="0" iyy="0.00001" iyz="0" izz="0.00001"/>
    </inertial>
    <visual>
      <origin rpy="0 0 0" xyz="0 0 0"/>
      <geometry>
        <box size="0.01 0.01 0.01"/>
      </geometry>
    </visual>
  </link>
  <joint name="r_hand_force_torque_joint" type="fixed">
    <origin rpy="-1.57079632679 0 -1.57079632679" xyz="0 0 0"/>
    <parent link="rightPalm"/>
    <child link="r_hand_force_torque"/>
  </joint>
  <link name="right_palm">
    <inertial>
      <mass value="0.001"/>
      <origin xyz="0 0 0"/>
      <inertia ixx="0.00001" ixy="0" ixz="0" iyy="0.00001" iyz="0" izz="0.00001"/>
    </inertial>
    <visual>
      <origin rpy="0 0 0" xyz="0 0 0"/>
      <geometry>
        <box size="0.01 0.01 0.01"/>
      </geometry>
    </visual>
  </link>
  <joint name="right_valkyrie_hand_joint" type="fixed">
    <origin rpy="0 -1.57079632679 -1.57079632679" xyz="0.08 0 0"/>
    <parent link="r_hand_force_torque"/>
    <child link="right_palm"/>
  </joint>
  <link name="r_hand_face">
    <inertial>
      <mass value="0.001"/>
      <origin xyz="0 0 0"/>
      <inertia ixx="0.00001" ixy="0" ixz="0" iyy="0.00001" iyz="0" izz="0.00001"/>
    </inertial>
  </link>
  <joint name="r_hand_face_joint" type="fixed">
    <origin rpy="0 0 -1.57079632679" xyz="0.07 0 0.08"/>
    <parent link="r_hand_force_torque"/>
    <child link="r_hand_face"/>
  </joint>
  <!-- end drake right hand frames-->
  <!-- drake collision free groups-->
  <collision_filter_group name="feet">
    <member link="leftFoot"/>
    <member link="rightFoot"/>
    <ignored_collision_filter_group collision_filter_group="feet"/>
  </collision_filter_group>
  <collision_filter_group name="core">
    <member link="torso"/>
    <member link="torsoYawLink"/>
    <member link="torsoPitchLink"/>
    <member link="pelvis"/>
    <member link="lowerNeckPitchLink"/>
    <member link="neckYawLink"/>
    <member link="upperNeckPitchLink"/>
    <member link="head"/>
    <ignored_collision_filter_group collision_filter_group="core"/>
  </collision_filter_group>
  <collision_filter_group name="ignore_core">
    <member link="rightShoulderRollLink"/>
    <member link="leftShoulderRollLink"/>
    <member link="rightShoulderPitchLink"/>
    <member link="leftShoulderPitchLink"/>
    <ignored_collision_filter_group collision_filter_group="core"/>
  </collision_filter_group>
  <collision_filter_group name="r_uleg">
    <member link="rightHipYawLink"/>
    <member link="rightHipRollLink"/>
    <member link="rightHipPitchLink"/>
    <ignored_collision_filter_group collision_filter_group="core"/>
    <ignored_collision_filter_group collision_filter_group="r_uleg"/>
    <ignored_collision_filter_group collision_filter_group="l_uleg"/>
  </collision_filter_group>
  <collision_filter_group name="l_uleg">
    <member link="leftHipYawLink"/>
    <member link="leftHipRollLink"/>
    <member link="leftHipPitchLink"/>
    <ignored_collision_filter_group collision_filter_group="core"/>
    <ignored_collision_filter_group collision_filter_group="r_uleg"/>
    <ignored_collision_filter_group collision_filter_group="l_uleg"/>
  </collision_filter_group>
  <collision_filter_group name="r_leg">
    <member link="rightKneePitchLink"/>
    <member link="rightAnklePitchLink"/>
    <member link="rightFoot"/>
    <ignored_collision_filter_group collision_filter_group="r_leg"/>
    <ignored_collision_filter_group collision_filter_group="r_uleg"/>
  </collision_filter_group>
  <collision_filter_group name="l_leg">
    <member link="leftKneePitchLink"/>
    <member link="leftAnklePitchLink"/>
    <member link="leftFoot"/>
    <ignored_collision_filter_group collision_filter_group="l_leg"/>
    <ignored_collision_filter_group collision_filter_group="l_uleg"/>
  </collision_filter_group>
  <collision_filter_group name="r_arm">
    <member link="rightShoulderPitchLink"/>
    <member link="rightShoulderRollLink"/>
    <member link="rightShoulderYawLink"/>
    <member link="rightElbowPitchLink"/>
    <member link="rightForearmLink"/>
    <member link="rightWristRollLink"/>
    <member link="rightPalm"/>
    <ignored_collision_filter_group collision_filter_group="r_arm"/>
  </collision_filter_group>
  <collision_filter_group name="l_arm">
    <member link="leftShoulderPitchLink"/>
    <member link="leftShoulderRollLink"/>
    <member link="leftShoulderYawLink"/>
    <member link="leftElbowPitchLink"/>
    <member link="leftForearmLink"/>
    <member link="leftWristRollLink"/>
    <member link="leftPalm"/>
    <ignored_collision_filter_group collision_filter_group="l_arm"/>
  </collision_filter_group>
  <!-- end drake collision free groups-->
</robot>
